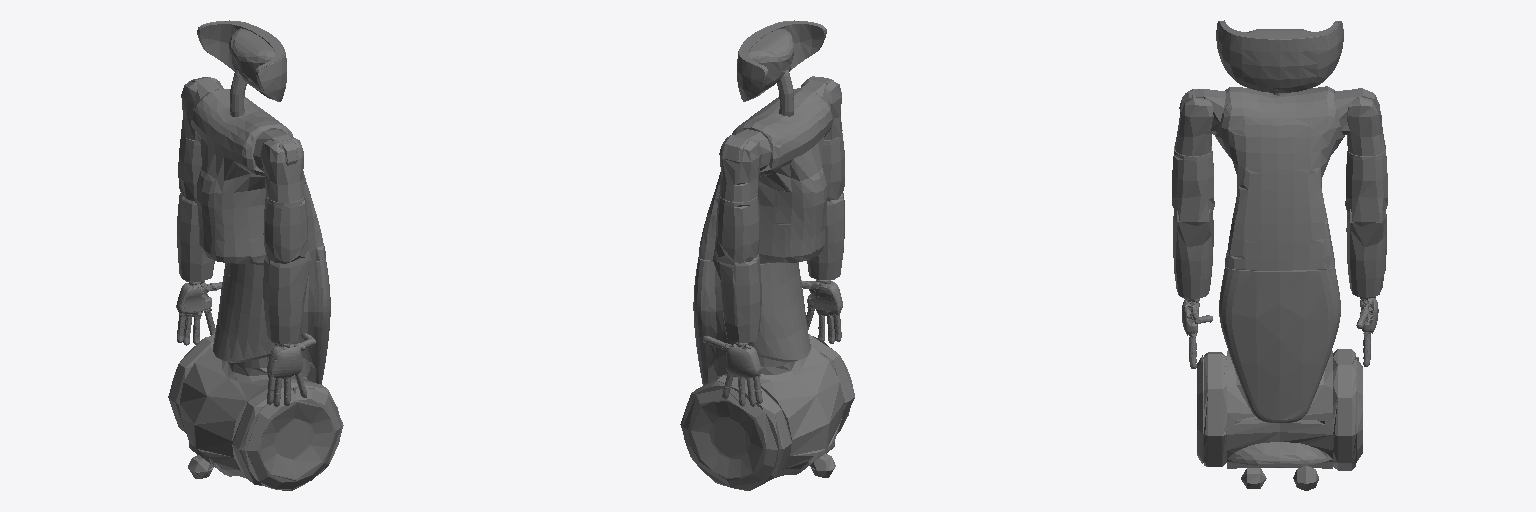
--- Facts derived from the render (not from the file) ---
The picture shows the robot from 3 angles, left to right: view 1: azimuth 30°, elevation 25°; view 2: azimuth 150°, elevation 25°; view 3: azimuth 270°, elevation 25°; orthographic projection.
Model R1Mk3 with 180 links and 179 joints (45 revolute, 1 prismatic, 133 fixed), rooted at base_link, posed every joint at zero.
Links seen in each view (by area): view 1: chest_link, mobile_base_r_tyre_link, mobile_base_body_link, torso_slider_eq_link, head_link, r_forearm, r_upper_arm, r_shoulder_2, l_forearm, l_upper_arm, mobile_base_l_tyre_link, r_hand_palm (+4 smaller); view 2: chest_link, mobile_base_l_tyre_link, torso_slider_eq_link, mobile_base_body_link, head_link, l_forearm, l_upper_arm, l_shoulder_2, r_forearm, r_upper_arm, mobile_base_r_tyre_link, l_hand_palm (+4 smaller); view 3: chest_link, torso_slider_eq_link, mobile_base_body_link, head_link, mobile_base_l_tyre_link, mobile_base_r_tyre_link, r_forearm, l_forearm, r_upper_arm, l_upper_arm, r_shoulder_2, l_shoulder_2 (+2 smaller).
Link boxes in pixels (bbox=[...]): chest_link: bbox=[191, 89, 325, 265]; mobile_base_r_tyre_link: bbox=[232, 379, 343, 490]; mobile_base_body_link: bbox=[179, 347, 313, 478]; torso_slider_eq_link: bbox=[213, 258, 330, 384]; head_link: bbox=[197, 20, 286, 101]; r_forearm: bbox=[263, 251, 311, 344]; r_upper_arm: bbox=[263, 195, 309, 263]; r_shoulder_2: bbox=[260, 135, 304, 202]; l_forearm: bbox=[177, 193, 214, 281]; l_upper_arm: bbox=[178, 134, 201, 202]; mobile_base_l_tyre_link: bbox=[168, 334, 214, 432]; r_hand_palm: bbox=[267, 346, 302, 378]; chest_link: bbox=[699, 88, 832, 263]; mobile_base_l_tyre_link: bbox=[680, 375, 791, 490]; torso_slider_eq_link: bbox=[693, 257, 810, 385]; mobile_base_body_link: bbox=[705, 346, 843, 477]; head_link: bbox=[737, 20, 826, 101]; l_forearm: bbox=[713, 251, 761, 342]; l_upper_arm: bbox=[714, 193, 759, 263]; l_shoulder_2: bbox=[719, 135, 762, 201]; r_forearm: bbox=[807, 193, 844, 280]; r_upper_arm: bbox=[822, 133, 844, 201]; mobile_base_r_tyre_link: bbox=[809, 334, 854, 433]; l_hand_palm: bbox=[726, 345, 760, 377]; chest_link: bbox=[1215, 86, 1344, 270]; torso_slider_eq_link: bbox=[1219, 266, 1340, 423]; mobile_base_body_link: bbox=[1227, 351, 1332, 490]; head_link: bbox=[1216, 20, 1343, 92]; mobile_base_l_tyre_link: bbox=[1333, 349, 1362, 470]; mobile_base_r_tyre_link: bbox=[1197, 352, 1226, 466]; r_forearm: bbox=[1173, 209, 1213, 299]; l_forearm: bbox=[1346, 209, 1386, 298]; r_upper_arm: bbox=[1172, 146, 1214, 225]; l_upper_arm: bbox=[1345, 149, 1387, 226]; r_shoulder_2: bbox=[1175, 89, 1213, 156]; l_shoulder_2: bbox=[1347, 88, 1385, 155].
Bounding box of the posed robot: 0.394 × 0.5646 × 1.25 m (x, y, z).
49 mesh visuals loaded from 49 distinct referenced files (49 binary STL).

URDF robot description (R1Mk3):
<?xml version="1.0"?>
<robot name="R1Mk3">
  <link name="base_link"/>
  <joint name="base_link_fixed_joint" type="fixed">
    <origin xyz="0 0 0" rpy="0 -0 0"/>
    <parent link="base_link"/>
    <child link="mobile_base_body_link"/>
  </joint>
  <link name="mobile_base_body_link">
    <inertial>
      <mass value="22.387788717205595"/>
      <origin xyz="0.0035319256128036637 0 0.0628037627489639" rpy="0 -0 0"/>
      <inertia ixx="0.5475446262144261" ixy="0" ixz="-0.06348414627429329" iyy="0.5797524718439273" iyz="0" izz="0.270222711489103"/>
    </inertial>
    <visual>
      <origin xyz="0 0 0" rpy="0 -0 0"/>
      <geometry>
        <mesh filename="package://R1Mk3/meshes/simmechanics/sim_emorph_mob_base_body.stl" scale="0.001 0.001 0.001"/>
      </geometry>
      <material name="">
        <color rgba="0.5 0.5 0.5 1"/>
      </material>
    </visual>
    <collision>
      <origin xyz="0 0 0" rpy="0 -0 0"/>
      <geometry>
        <mesh filename="package://R1Mk3/meshes/simmechanics/sim_emorph_mob_base_body.stl" scale="0.001 0.001 0.001"/>
      </geometry>
      <material name="">
        <color rgba="0.5 0.5 0.5 1"/>
      </material>
    </collision>
  </link>
  <joint name="mobile_base_l_wheel_joint" type="revolute">
    <origin xyz="0 0.1389999999999999 -1.1102230246251565e-16" rpy="0 7.662700497994973e-16 0"/>
    <axis xyz="0 -1 -0"/>
    <parent link="mobile_base_body_link"/>
    <child link="mobile_base_l_tyre_link"/>
    <limit lower="-6.283185307179586" upper="6.283185307179586" effort="1e+9" velocity="1e+9"/>
    <dynamics damping="0.5" friction="0"/>
  </joint>
  <link name="mobile_base_l_tyre_link">
    <inertial>
      <mass value="3.2199858055744675"/>
      <origin xyz="0 0.03442489884626515 9.10811343815543e-6" rpy="0 -0 0"/>
      <inertia ixx="0.021487596568520503" ixy="0" ixz="0" iyy="0.04037529515619701" iyz="-8.891903600015211e-7" izz="0.021483307656942376"/>
    </inertial>
    <visual>
      <origin xyz="0 0 0" rpy="0 -0 0"/>
      <geometry>
        <mesh filename="package://R1Mk3/meshes/simmechanics/sim_emorph_mobile_base_l_tyre.stl" scale="0.001 0.001 0.001"/>
      </geometry>
      <material name="">
        <color rgba="0.5 0.5 0.5 1"/>
      </material>
    </visual>
    <collision>
      <origin xyz="0 0 0" rpy="0 -0 0"/>
      <geometry>
        <mesh filename="package://R1Mk3/meshes/simmechanics/sim_emorph_mobile_base_l_tyre.stl" scale="0.001 0.001 0.001"/>
      </geometry>
      <material name="">
        <color rgba="0.5 0.5 0.5 1"/>
      </material>
    </collision>
  </link>
  <joint name="mobile_base_r_wheel_joint" type="revolute">
    <origin xyz="0 -0.13900000000000004 -2.7755575615628914e-17" rpy="0 -0 0"/>
    <axis xyz="-0 -1 -0"/>
    <parent link="mobile_base_body_link"/>
    <child link="mobile_base_r_tyre_link"/>
    <limit lower="-6.283185307179586" upper="6.283185307179586" effort="1e+9" velocity="1e+9"/>
    <dynamics damping="0.5" friction="0"/>
  </joint>
  <link name="mobile_base_r_tyre_link">
    <inertial>
      <mass value="3.2199844996907157"/>
      <origin xyz="0 -0.03442488632484336 9.102946312872229e-6" rpy="0 -0 0"/>
      <inertia ixx="0.021487589328670016" ixy="0" ixz="0" iyy="0.040375282920497746" iyz="8.888241223903605e-7" izz="0.021483299995861717"/>
    </inertial>
    <visual>
      <origin xyz="0 0 0" rpy="0 -0 0"/>
      <geometry>
        <mesh filename="package://R1Mk3/meshes/simmechanics/sim_emorph_mobile_base_r_tyre.stl" scale="0.001 0.001 0.001"/>
      </geometry>
      <material name="">
        <color rgba="0.5 0.5 0.5 1"/>
      </material>
    </visual>
    <collision>
      <origin xyz="0 0 0" rpy="0 -0 0"/>
      <geometry>
        <mesh filename="package://R1Mk3/meshes/simmechanics/sim_emorph_mobile_base_r_tyre.stl" scale="0.001 0.001 0.001"/>
      </geometry>
      <material name="">
        <color rgba="0.5 0.5 0.5 1"/>
      </material>
    </collision>
  </link>
  <joint name="torso_heave_eq_joint" type="prismatic">
    <origin xyz="0.04399999999999975 0 0.06999999999999978" rpy="0 -0 1.1561757607518842e-15"/>
    <axis xyz="0 0 1"/>
    <parent link="mobile_base_body_link"/>
    <child link="torso_slider_eq_link"/>
    <limit lower="0" upper="0.17" effort="1e+9" velocity="1e+9"/>
    <dynamics damping="2" friction="0"/>
  </joint>
  <link name="torso_slider_eq_link">
    <inertial>
      <mass value="5.59982626694707"/>
      <origin xyz="0.015174971832668069 2.80975224798882e-6 0.24553275341839229" rpy="0 -0 0"/>
      <inertia ixx="0.07308089006270702" ixy="-1.3698388363514908e-6" ixz="0.0046719400245096195" iyy="0.07238788684975928" iyz="-5.401529104640673e-18" izz="0.055708127154132946"/>
    </inertial>
    <visual>
      <origin xyz="0 0 0" rpy="0 -0 0"/>
      <geometry>
        <mesh filename="package://R1Mk3/meshes/simmechanics/sim_emorph_torso_slider_eq.stl" scale="0.001 0.001 0.001"/>
      </geometry>
      <material name="">
        <color rgba="0.5 0.5 0.5 1"/>
      </material>
    </visual>
    <collision>
      <origin xyz="0 0 0" rpy="0 -0 0"/>
      <geometry>
        <mesh filename="package://R1Mk3/meshes/simmechanics/sim_emorph_torso_slider_eq.stl" scale="0.001 0.001 0.001"/>
      </geometry>
      <material name="">
        <color rgba="0.5 0.5 0.5 1"/>
      </material>
    </collision>
  </link>
  <joint name="torso_roll_eq_joint" type="revolute">
    <origin xyz="2.0816681711721685e-17 -5.242619982186716e-24 0.40000000000000024" rpy="0 2.220446049250313e-16 -1.8377532023260753e-23"/>
    <axis xyz="1 1.9721522630525295e-31 2.220446049250313e-16"/>
    <parent link="torso_slider_eq_link"/>
    <child link="torso_pin_eq_link"/>
    <limit lower="-0.5235987755982988" upper="0.5235987755982988" effort="1e+9" velocity="1e+9"/>
    <dynamics damping="2" friction="0"/>
  </joint>
  <link name="torso_pin_eq_link">
    <inertial>
      <mass value="0.31999477371302226"/>
      <origin xyz="0 0 6.1232339957367664e-24" rpy="0 -0 0"/>
      <inertia ixx="0.01" ixy="0" ixz="0" iyy="0.01" iyz="0" izz="0.01"/>
    </inertial>
    <visual>
      <origin xyz="0 0 0" rpy="0 -0 0"/>
      <geometry>
        <mesh filename="package://R1Mk3/meshes/simmechanics/sim_emorph_torso_pin_eq.stl" scale="0.001 0.001 0.001"/>
      </geometry>
      <material name="">
        <color rgba="0.5 0.5 0.5 1"/>
      </material>
    </visual>
    <collision>
      <origin xyz="0 0 0" rpy="0 -0 0"/>
      <geometry>
        <mesh filename="package://R1Mk3/meshes/simmechanics/sim_emorph_torso_pin_eq.stl" scale="0.001 0.001 0.001"/>
      </geometry>
      <material name="">
        <color rgba="0.5 0.5 0.5 1"/>
      </material>
    </collision>
  </link>
  <joint name="torso_pitch_eq_joint" type="revolute">
    <origin xyz="-1.3183898417423734e-16 -5.769801341748891e-19 -8.881784197001252e-16" rpy="2.677430187438326e-32 1.110223024625156e-16 -1.2767564783189298e-15"/>
    <axis xyz="1.2767564783189298e-15 -1 3.8508387890912664e-31"/>
    <parent link="torso_pin_eq_link"/>
    <child link="torso_platform_link"/>
    <limit lower="-0.5235987755982988" upper="0.5235987755982988" effort="1e+9" velocity="1e+9"/>
    <dynamics damping="2" friction="0"/>
  </joint>
  <link name="torso_platform_link">
    <inertial>
      <mass value="0.031999825298309546"/>
      <origin xyz="-2.0816681711721685e-17 -1.2609946697555567e-16 0" rpy="0 -0 0"/>
      <inertia ixx="3.266648832535854e-5" ixy="0" ixz="0" iyy="3.266648832535849e-5" iyz="0" izz="6.47996462290769e-5"/>
    </inertial>
    <visual>
      <origin xyz="0 0 0" rpy="0 -0 0"/>
      <geometry>
        <mesh filename="package://R1Mk3/meshes/simmechanics/sim_emorph_torso_platform.stl" scale="0.001 0.001 0.001"/>
      </geometry>
      <material name="">
        <color rgba="0.5 0.5 0.5 1"/>
      </material>
    </visual>
    <collision>
      <origin xyz="0 0 0" rpy="0 -0 0"/>
      <geometry>
        <mesh filename="package://R1Mk3/meshes/simmechanics/sim_emorph_torso_platform.stl" scale="0.001 0.001 0.001"/>
      </geometry>
      <material name="">
        <color rgba="0.5 0.5 0.5 1"/>
      </material>
    </collision>
  </link>
  <joint name="torso_yaw_joint" type="revolute">
    <origin xyz="2.220446049250313e-16 -1.6880686544087094e-16 0.06950000000000012" rpy="-1.0898835157993226e-15 1.4574786319396409e-16 2.150984683485474e-15"/>
    <axis xyz="1.4574786319396409e-16 1.0898835157993226e-15 -1"/>
    <parent link="torso_platform_link"/>
    <child link="chest_link"/>
    <limit lower="-1.0471975511965976" upper="1.0471975511965976" effort="1e+9" velocity="1e+9"/>
    <dynamics damping="2" friction="0"/>
  </joint>
  <link name="chest_link">
    <inertial>
      <mass value="11.006630670053784"/>
      <origin xyz="-0.05342508362944062 4.451185528156479e-4 0.16350186281802392" rpy="0 -0 0"/>
      <inertia ixx="0.22592706246813526" ixy="-1.373015943959773e-4" ixz="0.027792693776069563" iyy="0.21551813958910926" iyz="-0.00695979090154285" izz="0.10409836015106214"/>
    </inertial>
    <visual>
      <origin xyz="0 0 0" rpy="0 -0 0"/>
      <geometry>
        <mesh filename="package://R1Mk3/meshes/simmechanics/sim_emorph_chest.stl" scale="0.001 0.001 0.001"/>
      </geometry>
      <material name="">
        <color rgba="0.5 0.5 0.5 1"/>
      </material>
    </visual>
    <collision>
      <origin xyz="0 0 0" rpy="0 -0 0"/>
      <geometry>
        <mesh filename="package://R1Mk3/meshes/simmechanics/sim_emorph_chest.stl" scale="0.001 0.001 0.001"/>
      </geometry>
      <material name="">
        <color rgba="0.5 0.5 0.5 1"/>
      </material>
    </collision>
  </link>
  <joint name="neck_pitch_joint" type="revolute">
    <origin xyz="-0.0939999999999997 -1.5911115898279495e-16 0.3304999999999986" rpy="1.4266365866433113e-14 1.1313955190051007e-15 4.4868448346273745e-15"/>
    <axis xyz="-1.1561757607518887e-15 -1 5.551115123110952e-17"/>
    <parent link="chest_link"/>
    <child link="neck_link"/>
    <limit lower="-0.5235987755982988" upper="0.8726646259971648" effort="1e+9" velocity="1e+9"/>
    <dynamics damping="2" friction="0"/>
  </joint>
  <link name="neck_link">
    <inertial>
      <mass value="1.4"/>
      <origin xyz="-3.216550439930285e-4 -1.7030856145810995e-17 0.07755531114599701" rpy="0 -0 0"/>
      <inertia ixx="0.0042979349262165165" ixy="1.6175679588350532e-19" ixz="-5.92816958988333e-4" iyy="0.004437841678610556" iyz="6.854005985449545e-19" izz="4.199038582793866e-4"/>
    </inertial>
    <visual>
      <origin xyz="0 0 0" rpy="0 -0 0"/>
      <geometry>
        <mesh filename="package://R1Mk3/meshes/simmechanics/sim_cer_emorph_neck.stl" scale="0.001 0.001 0.001"/>
      </geometry>
      <material name="">
        <color rgba="0.5 0.5 0.5 1"/>
      </material>
    </visual>
    <collision>
      <origin xyz="0 0 0" rpy="0 -0 0"/>
      <geometry>
        <mesh filename="package://R1Mk3/meshes/simmechanics/sim_cer_emorph_neck.stl" scale="0.001 0.001 0.001"/>
      </geometry>
      <material name="">
        <color rgba="0.5 0.5 0.5 1"/>
      </material>
    </collision>
  </link>
  <joint name="l_shoulder_pitch" type="revolute">
    <origin xyz="-0.08400053150683917 0.12013484795757048 0.286332955917873" rpy="0.46227268619152106 -0.9974565180194648 -0.3965303028718867"/>
    <axis xyz="-1.149080830487037e-14 1.0000000000000024 1.0005885009434223e-14"/>
    <parent link="chest_link"/>
    <child link="l_shoulder_1"/>
    <limit lower="-2.9670597283903604" upper="0.6108652381980153" effort="1e+9" velocity="1e+9"/>
    <dynamics damping="2" friction="0"/>
  </joint>
  <link name="l_shoulder_1">
    <inertial>
      <mass value="0.9205302270338587"/>
      <origin xyz="-0.001946411732135389 0.06685258321997073 -0.001525090959314912" rpy="0 -0 0"/>
      <inertia ixx="0.01" ixy="0" ixz="0" iyy="0.01" iyz="0" izz="0.01"/>
    </inertial>
    <visual>
      <origin xyz="0 0 0" rpy="0 -0 0"/>
      <geometry>
        <mesh filename="package://R1Mk3/meshes/simmechanics/sim_emorph_l_shoulder_1.stl" scale="0.001 0.001 0.001"/>
      </geometry>
      <material name="">
        <color rgba="0.5 0.5 0.5 1"/>
      </material>
    </visual>
    <collision>
      <origin xyz="0 0 0" rpy="0 -0 0"/>
      <geometry>
        <mesh filename="package://R1Mk3/meshes/simmechanics/sim_emorph_l_shoulder_1.stl" scale="0.001 0.001 0.001"/>
      </geometry>
      <material name="">
        <color rgba="0.5 0.5 0.5 1"/>
      </material>
    </collision>
  </link>
  <joint name="r_shoulder_pitch" type="revolute">
    <origin xyz="-0.08400053150683896 -0.12013484795757053 0.2863329559178688" rpy="-0.4622726861915203 -0.9974565180194644 0.39653030287188284"/>
    <axis xyz="8.770761894538737e-15 1.0000000000000013 -7.0637939941775585e-15"/>
    <parent link="chest_link"/>
    <child link="r_shoulder_1"/>
    <limit lower="-2.9670597283903604" upper="0.6108652381980153" effort="1e+9" velocity="1e+9"/>
    <dynamics damping="2" friction="0"/>
  </joint>
  <link name="r_shoulder_1">
    <inertial>
      <mass value="0.9205302270338587"/>
      <origin xyz="-0.0019414141305987842 -0.06685331018889412 -0.00153764721332289" rpy="0 -0 0"/>
      <inertia ixx="0.01" ixy="0" ixz="0" iyy="0.01" iyz="0" izz="0.010000000000000002"/>
    </inertial>
    <visual>
      <origin xyz="0 0 0" rpy="0 -0 0"/>
      <geometry>
        <mesh filename="package://R1Mk3/meshes/simmechanics/sim_emorph_r_shoulder_1.stl" scale="0.001 0.001 0.001"/>
      </geometry>
      <material name="">
        <color rgba="0.5 0.5 0.5 1"/>
      </material>
    </visual>
    <collision>
      <origin xyz="0 0 0" rpy="0 -0 0"/>
      <geometry>
        <mesh filename="package://R1Mk3/meshes/simmechanics/sim_emorph_r_shoulder_1.stl" scale="0.001 0.001 0.001"/>
      </geometry>
      <material name="">
        <color rgba="0.5 0.5 0.5 1"/>
      </material>
    </collision>
  </link>
  <joint name="r_shoulder_roll" type="revolute">
    <origin xyz="0.003749999999999143 -0.09330000000000055 -0.006495190528383377" rpy="0.244346095279198 1.0471975511965996 2.4338251683117622e-14"/>
    <axis xyz="-1 -1.429412144204889e-14 1.021405182655144e-14"/>
    <parent link="r_shoulder_1"/>
    <child link="r_shoulder_2"/>
    <limit lower="-0.2617993877991494" upper="2.6179938779914944" effort="1e+9" velocity="1e+9"/>
    <dynamics damping="2" friction="0"/>
  </joint>
  <link name="r_shoulder_2">
    <inertial>
      <mass value="0.6080396220710449"/>
      <origin xyz="-7.465746078458985e-5 -0.006873436249446779 -0.04428821648354275" rpy="0 -0 0"/>
      <inertia ixx="0.01" ixy="0" ixz="0" iyy="0.01" iyz="0" izz="0.01"/>
    </inertial>
    <visual>
      <origin xyz="0 0 0" rpy="0 -0 0"/>
      <geometry>
        <mesh filename="package://R1Mk3/meshes/simmechanics/sim_emorph_r_shoulder_2.stl" scale="0.001 0.001 0.001"/>
      </geometry>
      <material name="">
        <color rgba="0.5 0.5 0.5 1"/>
      </material>
    </visual>
    <collision>
      <origin xyz="0 0 0" rpy="0 -0 0"/>
      <geometry>
        <mesh filename="package://R1Mk3/meshes/simmechanics/sim_emorph_r_shoulder_2.stl" scale="0.001 0.001 0.001"/>
      </geometry>
      <material name="">
        <color rgba="0.5 0.5 0.5 1"/>
      </material>
    </collision>
  </link>
  <joint name="r_arm_ft_sensor" type="fixed">
    <origin xyz="-0.0068499999999994746 -0.015000000000000097 -0.08430000000000015" rpy="-1.1679620594505114e-16 6.826136877968736e-15 4.94835800753015e-15"/>
    <parent link="r_shoulder_2"/>
    <child link="r_shoulder_3"/>
  </joint>
  <link name="r_shoulder_3">
    <inertial>
      <mass value="0.4623249532467936"/>
      <origin xyz="1.1402388285693815e-4 0.0021062597854318577 -0.05634188166833354" rpy="0 -0 0"/>
      <inertia ixx="0.01" ixy="0" ixz="0" iyy="0.01" iyz="0" izz="0.01"/>
    </inertial>
    <visual>
      <origin xyz="0 0 0" rpy="0 -0 0"/>
      <geometry>
        <mesh filename="package://R1Mk3/meshes/simmechanics/sim_emorph_r_shoulder_3.stl" scale="0.001 0.001 0.001"/>
      </geometry>
      <material name="">
        <color rgba="0.5 0.5 0.5 1"/>
      </material>
    </visual>
    <collision>
      <origin xyz="0 0 0" rpy="0 -0 0"/>
      <geometry>
        <mesh filename="package://R1Mk3/meshes/simmechanics/sim_emorph_r_shoulder_3.stl" scale="0.001 0.001 0.001"/>
      </geometry>
      <material name="">
        <color rgba="0.5 0.5 0.5 1"/>
      </material>
    </collision>
  </link>
  <joint name="r_shoulder_yaw" type="revolute">
    <origin xyz="1.3787582187063663e-14 0 -0.09249999999999958" rpy="1.0867658778094487e-13 -3.511889672298818e-13 -8.388657031109435e-14"/>
    <axis xyz="-1.0756098702675875e-14 -7.324493453917992e-15 1.0000000000000002"/>
    <parent link="r_shoulder_3"/>
    <child link="r_upper_arm"/>
    <limit lower="-0.8726646259971648" upper="1.3962634015954636" effort="1e+9" velocity="1e+9"/>
    <dynamics damping="2" friction="0"/>
  </joint>
  <link name="r_upper_arm">
    <inertial>
      <mass value="5.151351881512406"/>
      <origin xyz="-0.0016337943691091053 -2.849044717098126e-4 -0.0291327391827797" rpy="0 -0 0"/>
      <inertia ixx="0.016840874694995834" ixy="-4.251606397628043e-6" ixz="-2.0760347528950605e-4" iyy="0.016820111448241134" iyz="5.131532859128798e-4" izz="0.007390922215738868"/>
    </inertial>
    <visual>
      <origin xyz="0 0 0" rpy="0 -0 0"/>
      <geometry>
        <mesh filename="package://R1Mk3/meshes/simmechanics/sim_emorph_r_upperarm.stl" scale="0.001 0.001 0.001"/>
      </geometry>
      <material name="">
        <color rgba="0.5 0.5 0.5 1"/>
      </material>
    </visual>
    <collision>
      <origin xyz="0 0 0" rpy="0 -0 0"/>
      <geometry>
        <mesh filename="package://R1Mk3/meshes/simmechanics/sim_emorph_r_upperarm.stl" scale="0.001 0.001 0.001"/>
      </geometry>
      <material name="">
        <color rgba="0.5 0.5 0.5 1"/>
      </material>
    </collision>
  </link>
  <joint name="r_elbow" type="revolute">
    <origin xyz="0.010000000000000168 0.0014999999999925628 -0.12369999999999992" rpy="-8.776602962605454e-15 8.621163678779187e-14 -4.61332598370497e-15"/>
    <axis xyz="-6.881155398478144e-15 -1.0000000000000007 -1.766090636148874e-13"/>
    <parent link="r_upper_arm"/>
    <child link="r_forearm"/>
    <limit lower="-0.05235987755982989" upper="1.3089969389957472" effort="1e+9" velocity="1e+9"/>
    <dynamics damping="2" friction="0"/>
  </joint>
  <link name="r_forearm">
    <inertial>
      <mass value="1.5127280243277526"/>
      <origin xyz="-0.017870144976380828 -4.3369235091492153e-4 -0.1201340745623698" rpy="0 -0 0"/>
      <inertia ixx="0.010000000000000002" ixy="0" ixz="0" iyy="0.009999999999999998" iyz="0" izz="0.01"/>
    </inertial>
    <visual>
      <origin xyz="0 0 0" rpy="0 -0 0"/>
      <geometry>
        <mesh filename="package://R1Mk3/meshes/simmechanics/sim_emorph_r_forearm.stl" scale="0.001 0.001 0.001"/>
      </geometry>
      <material name="">
        <color rgba="0.5 0.5 0.5 1"/>
      </material>
    </visual>
    <collision>
      <origin xyz="0 0 0" rpy="0 -0 0"/>
      <geometry>
        <mesh filename="package://R1Mk3/meshes/simmechanics/sim_emorph_r_forearm.stl" scale="0.001 0.001 0.001"/>
      </geometry>
      <material name="">
        <color rgba="0.5 0.5 0.5 1"/>
      </material>
    </collision>
  </link>
  <joint name="r_wrist_yaw" type="revolute">
    <origin xyz="-0.014999999999887593 -0.002000000000031976 -0.24435000000000512" rpy="-7.878073216300372e-15 -4.1640546262836087e-13 5.3958980296073275e-15"/>
    <axis xyz="-8.698055296851647e-14 1.8287579293696935e-13 1.0000000000000016"/>
    <parent link="r_forearm"/>
    <child link="r_wrist_1"/>
    <limit lower="-1.6057029118347832" upper="1.6057029118347832" effort="1e+9" velocity="1e+9"/>
    <dynamics damping="2" friction="0"/>
  </joint>
  <link name="r_wrist_1">
    <inertial>
      <mass value="0.12269276206782376"/>
      <origin xyz="-1.4544607175177166e-4 1.559247070407055e-4 0.022377800821402394" rpy="0 -0 0"/>
      <inertia ixx="0.01" ixy="0" ixz="0" iyy="0.01" iyz="0" izz="0.01"/>
    </inertial>
    <visual>
      <origin xyz="0 0 0" rpy="0 -0 0"/>
      <geometry>
        <mesh filename="package://R1Mk3/meshes/simmechanics/sim_emorph_r_wrist_1.stl" scale="0.001 0.001 0.001"/>
      </geometry>
      <material name="">
        <color rgba="0.5 0.5 0.5 1"/>
      </material>
    </visual>
    <collision>
      <origin xyz="0 0 0" rpy="0 -0 0"/>
      <geometry>
        <mesh filename="package://R1Mk3/meshes/simmechanics/sim_emorph_r_wrist_1.stl" scale="0.001 0.001 0.001"/>
      </geometry>
      <material name="">
        <color rgba="0.5 0.5 0.5 1"/>
      </material>
    </collision>
  </link>
  <joint name="r_wrist_roll" type="revolute">
    <origin xyz="7.632783294297951e-17 2.498001805406602e-16 3.3306690738754696e-16" rpy="6.3169412432885e-16 1.7406865879254774e-16 -2.979556976579619e-16"/>
    <axis xyz="0.9999999999999993 -2.685670425200266e-16 -1.1855750756128986e-16"/>
    <parent link="r_wrist_1"/>
    <child link="r_wrist_2"/>
    <limit lower="-1.0821041362364843" upper="0.9075712110370514" effort="1e+9" velocity="1e+9"/>
    <dynamics damping="2" friction="0"/>
  </joint>
  <link name="r_wrist_2">
    <inertial>
      <mass value="0.021188357245777188"/>
      <origin xyz="5.05499045400093e-11 7.897372606293362e-4 -0.004696960055006527" rpy="0 -0 0"/>
      <inertia ixx="0.01" ixy="0" ixz="0" iyy="0.01" iyz="0" izz="0.01"/>
    </inertial>
    <visual>
      <origin xyz="0 0 0" rpy="0 -0 0"/>
      <geometry>
        <mesh filename="package://R1Mk3/meshes/simmechanics/sim_emorph_r_wrist_2.stl" scale="0.001 0.001 0.001"/>
      </geometry>
      <material name="">
        <color rgba="0.5 0.5 0.5 1"/>
      </material>
    </visual>
    <collision>
      <origin xyz="0 0 0" rpy="0 -0 0"/>
      <geometry>
        <mesh filename="package://R1Mk3/meshes/simmechanics/sim_emorph_r_wrist_2.stl" scale="0.001 0.001 0.001"/>
      </geometry>
      <material name="">
        <color rgba="0.5 0.5 0.5 1"/>
      </material>
    </collision>
  </link>
  <joint name="r_wrist_pitch" type="revolute">
    <origin xyz="5.551115123125783e-17 -5.551115123125783e-17 -2.220446049250313e-16" rpy="3.2643052087827604e-16 -6.19079440489223e-17 -2.4254449631448003e-16"/>
    <axis xyz="2.668306249781552e-16 -0.9999999999999994 -6.594507967859708e-16"/>
    <parent link="r_wrist_2"/>
    <child link="r_hand_palm"/>
    <limit lower="-0.5585053606381855" upper="0.5585053606381855" effort="1e+9" velocity="1e+9"/>
    <dynamics damping="2" friction="0"/>
  </joint>
  <link name="r_hand_palm">
    <inertial>
      <mass value="0.2020068404688116"/>
      <origin xyz="-0.003982157972782507 -0.0021135289059891482 -0.05842371394186491" rpy="0 -0 0"/>
      <inertia ixx="0.01" ixy="0" ixz="0" iyy="0.01" iyz="0" izz="0.01"/>
    </inertial>
    <visual>
      <origin xyz="0 0 0" rpy="0 -0 0"/>
      <geometry>
        <mesh filename="package://R1Mk3/meshes/simmechanics/sim_emorph_r_hand_palm.stl" scale="0.001 0.001 0.001"/>
      </geometry>
      <material name="">
        <color rgba="0.5 0.5 0.5 1"/>
      </material>
    </visual>
    <collision>
      <origin xyz="0 0 0" rpy="0 -0 0"/>
      <geometry>
        <mesh filename="package://R1Mk3/meshes/simmechanics/sim_emorph_r_hand_palm.stl" scale="0.001 0.001 0.001"/>
      </geometry>
      <material name="">
        <color rgba="0.5 0.5 0.5 1"/>
      </material>
    </collision>
  </link>
  <joint name="r_index_add" type="revolute">
    <origin xyz="0.02249999999999991 0.0015000000000005564 -0.06859999999999972" rpy="-1.8219785097875794e-15 0.2967059728390403 3.141592653589792"/>
    <axis xyz="-2.8199000035257554e-16 -0.9999999999999994 1.3731809894432951e-15"/>
    <parent link="r_hand_palm"/>
    <child link="r_hand_index_1"/>
    <limit lower="0" upper="0.2617993877991494" effort="1e+9" velocity="1e+9"/>
    <dynamics damping="2" friction="0"/>
  </joint>
  <link name="r_hand_index_1">
    <inertial>
      <mass value="0.019232477290189804"/>
      <origin xyz="-0.008420124408709713 0.003850331678233287 -0.01714942611279774" rpy="0 -0 0"/>
      <inertia ixx="0.01" ixy="0" ixz="0" iyy="0.01" iyz="0" izz="0.01"/>
    </inertial>
    <visual>
      <origin xyz="0 0 0" rpy="0 -0 0"/>
      <geometry>
        <mesh filename="package://R1Mk3/meshes/simmechanics/sim_emorph_r_hand_index_1.stl" scale="0.001 0.001 0.001"/>
      </geometry>
      <material name="">
        <color rgba="0.5 0.5 0.5 1"/>
      </material>
    </visual>
    <collision>
      <origin xyz="0 0 0" rpy="0 -0 0"/>
      <geometry>
        <mesh filename="package://R1Mk3/meshes/simmechanics/sim_emorph_r_hand_index_1.stl" scale="0.001 0.001 0.001"/>
      </geometry>
      <material name="">
        <color rgba="0.5 0.5 0.5 1"/>
      </material>
    </collision>
  </link>
  <joint name="r_middle_prox" type="revolute">
    <origin xyz="0.009600000000000018 0.0015000000000005564 -0.1029999999999997" rpy="-1.5201721959961367e-15 1.796577209917105e-15 3.1415926535897922"/>
    <axis xyz="-0.9999999999999996 -4.4302906341327945e-15 6.654290833629744e-16"/>
    <parent link="r_hand_palm"/>
    <child link="r_hand_middle_1"/>
    <limit lower="0" upper="1.5707963267948966" effort="1e+9" velocity="1e+9"/>
    <dynamics damping="2" friction="0"/>
  </joint>
  <link name="r_hand_middle_1">
    <inertial>
      <mass value="0.007486365997467528"/>
      <origin xyz="5.610258533731913e-5 0.0011131046827904112 -0.01742880983276912" rpy="0 -0 0"/>
      <inertia ixx="0.01" ixy="0" ixz="0" iyy="0.01" iyz="0" izz="0.01"/>
    </inertial>
    <visual>
      <origin xyz="0 0 0" rpy="0 -0 0"/>
      <geometry>
        <mesh filename="package://R1Mk3/meshes/simmechanics/sim_emorph_r_hand_middle_1.stl" scale="0.001 0.001 0.001"/>
      </geometry>
      <material name="">
        <color rgba="0.5 0.5 0.5 1"/>
      </material>
    </visual>
    <collision>
      <origin xyz="0 0 0" rpy="0 -0 0"/>
      <geometry>
        <mesh filename="package://R1Mk3/meshes/simmechanics/sim_emorph_r_hand_middle_1.stl" scale="0.001 0.001 0.001"/>
      </geometry>
      <material name="">
        <color rgba="0.5 0.5 0.5 1"/>
      </material>
    </collision>
  </link>
  <joint name="r_pinkie_prox" type="revolute">
    <origin xyz="-0.03598268094316612 0.0023777595791096284 -0.09206828131946365" rpy="4.1095343994377795e-4 -0.0872664625997284 3.115412714809877"/>
    <axis xyz="-0.9999999999999997 4.2975605712980425e-15 -3.191891195797325e-16"/>
    <parent link="r_hand_palm"/>
    <child link="r_hand_pinkie_1"/>
    <limit lower="0" upper="1.5707963267948966" effort="1e+9" velocity="1e+9"/>
    <dynamics damping="2" friction="0"/>
  </joint>
  <link name="r_hand_pinkie_1">
    <inertial>
      <mass value="0.006357585733638135"/>
      <origin xyz="3.616260147435227e-5 0.0012147050941129778 -0.015053109692718447" rpy="0 -0 0"/>
      <inertia ixx="0.01" ixy="0" ixz="0" iyy="0.01" iyz="0" izz="0.01"/>
    </inertial>
    <visual>
      <origin xyz="0 0 0" rpy="0 -0 0"/>
      <geometry>
        <mesh filename="package://R1Mk3/meshes/simmechanics/sim_emorph_r_hand_pinkie_1.stl" scale="0.001 0.001 0.001"/>
      </geometry>
      <material name="">
        <color rgba="0.5 0.5 0.5 1"/>
      </material>
    </visual>
    <collision>
      <origin xyz="0 0 0" rpy="0 -0 0"/>
      <geometry>
        <mesh filename="package://R1Mk3/meshes/simmechanics/sim_emorph_r_hand_pinkie_1.stl" scale="0.001 0.001 0.001"/>
      </geometry>
      <material name="">
        <color rgba="0.5 0.5 0.5 1"/>
      </material>
    </collision>
  </link>
  <joint name="r_ring_prox" type="revolute">
    <origin xyz="-0.015417755558119937 0.001849813728471178 -0.09788067183884414" rpy="-1.8555868085958955e-15 -0.08726646259972873 3.115412714809877"/>
    <axis xyz="-0.9999999999999997 -3.617118096769719e-15 -4.73232564246473e-15"/>
    <parent link="r_hand_palm"/>
    <child link="r_hand_ring_1"/>
    <limit lower="0" upper="1.5707963267948966" effort="1e+9" velocity="1e+9"/>
    <dynamics damping="2" friction="0"/>
  </joint>
  <link name="r_hand_ring_1">
    <inertial>
      <mass value="0.007486365997467528"/>
      <origin xyz="5.6102585337293107e-5 0.0011131045999587252 -0.017428809839565573" rpy="0 -0 0"/>
      <inertia ixx="0.01" ixy="0" ixz="0" iyy="0.01" iyz="0" izz="0.01"/>
    </inertial>
    <visual>
      <origin xyz="0 0 0" rpy="0 -0 0"/>
      <geometry>
        <mesh filename="package://R1Mk3/meshes/simmechanics/sim_emorph_r_hand_ring_1.stl" scale="0.001 0.001 0.001"/>
      </geometry>
      <material name="">
        <color rgba="0.5 0.5 0.5 1"/>
      </material>
    </visual>
    <collision>
      <origin xyz="0 0 0" rpy="0 -0 0"/>
      <geometry>
        <mesh filename="package://R1Mk3/meshes/simmechanics/sim_emorph_r_hand_ring_1.stl" scale="0.001 0.001 0.001"/>
      </geometry>
      <material name="">
        <color rgba="0.5 0.5 0.5 1"/>
      </material>
    </collision>
  </link>
  <joint name="r_thumb_add" type="revolute">
    <origin xyz="0.023374863256390613 0.003000000000000197 -0.03452383847355428" rpy="1.7024696942186454e-15 -0.2268928027592651 -6.747454081634266e-16"/>
    <axis xyz="9.71445146547012e-16 2.542554010709041e-15 0.9999999999999998"/>
    <parent link="r_hand_palm"/>
    <child link="r_hand_thumb_1"/>
    <limit lower="0" upper="1.7453292519943295" effort="1e+9" velocity="1e+9"/>
    <dynamics damping="2" friction="0"/>
  </joint>
  <link name="r_hand_thumb_1">
    <inertial>
      <mass value="0.02894174189037044"/>
      <origin xyz="0.0183756324403817 -4.55521018183358e-5 0.002126473485347669" rpy="0 -0 0"/>
      <inertia ixx="0.01" ixy="0" ixz="0" iyy="0.01" iyz="0" izz="0.01"/>
    </inertial>
    <visual>
      <origin xyz="0 0 0" rpy="0 -0 0"/>
      <geometry>
        <mesh filename="package://R1Mk3/meshes/simmechanics/sim_emorph_r_hand_thumb_1.stl" scale="0.001 0.001 0.001"/>
      </geometry>
      <material name="">
        <color rgba="0.5 0.5 0.5 1"/>
      </material>
    </visual>
    <collision>
      <origin xyz="0 0 0" rpy="0 -0 0"/>
      <geometry>
        <mesh filename="package://R1Mk3/meshes/simmechanics/sim_emorph_r_hand_thumb_1.stl" scale="0.001 0.001 0.001"/>
      </geometry>
      <material name="">
        <color rgba="0.5 0.5 0.5 1"/>
      </material>
    </collision>
  </link>
  <joint name="r_thumb_prox" type="revolute">
    <origin xyz="0.038074654499560476 0.00346910958032548 -0.0036017448035497446" rpy="-1.7697290685226967 -0.1374915277173128 -2.9653796139720434"/>
    <axis xyz="1.0928757898653885e-15 -1.0824674490095276e-15 -0.9999999999999997"/>
    <parent link="r_hand_thumb_1"/>
    <child link="r_hand_thumb_2"/>
    <limit lower="0" upper="1.5707963267948966" effort="1e+9" velocity="1e+9"/>
    <dynamics damping="2" friction="0"/>
  </joint>
  <link name="r_hand_thumb_2">
    <inertial>
      <mass value="0.00669603218404702"/>
      <origin xyz="-0.014887264468035837 -0.0011329726380328586 6.26600593671145e-5" rpy="0 -0 0"/>
      <inertia ixx="0.01" ixy="0" ixz="0" iyy="0.01" iyz="0" izz="0.01"/>
    </inertial>
    <visual>
      <origin xyz="0 0 0" rpy="0 -0 0"/>
      <geometry>
        <mesh filename="package://R1Mk3/meshes/simmechanics/sim_emorph_r_hand_thumb_2.stl" scale="0.001 0.001 0.001"/>
      </geometry>
      <material name="">
        <color rgba="0.5 0.5 0.5 1"/>
      </material>
    </visual>
    <collision>
      <origin xyz="0 0 0" rpy="0 -0 0"/>
      <geometry>
        <mesh filename="package://R1Mk3/meshes/simmechanics/sim_emorph_r_hand_thumb_2.stl" scale="0.001 0.001 0.001"/>
      </geometry>
      <material name="">
        <color rgba="0.5 0.5 0.5 1"/>
      </material>
    </collision>
  </link>
  <joint name="r_thumb_dist" type="revolute">
    <origin xyz="-0.03499999999999995 0.0014999999999998903 -1.942890293094024e-16" rpy="-3.1398494915180213e-16 -2.7755575615628914e-16 3.141592653588312"/>
    <axis xyz="8.8297424927092e-16 1.174407793238017e-15 -0.9999999999999998"/>
    <parent link="r_hand_thumb_2"/>
    <child link="r_hand_thumb_3"/>
    <limit lower="0" upper="1.7697638615222502" effort="1e+9" velocity="1e+9"/>
    <dynamics damping="2" friction="0"/>
  </joint>
  <link name="r_hand_thumb_3">
    <inertial>
      <mass value="0.00683159462238797"/>
      <origin xyz="0.016086236544425966 0.0026526877650291103 4.703179416121195e-5" rpy="0 -0 0"/>
      <inertia ixx="0.01" ixy="0" ixz="0" iyy="0.01" iyz="0" izz="0.01"/>
    </inertial>
    <visual>
      <origin xyz="0 0 0" rpy="0 -0 0"/>
      <geometry>
        <mesh filename="package://R1Mk3/meshes/simmechanics/sim_emorph_r_hand_thumb_3.stl" scale="0.001 0.001 0.001"/>
      </geometry>
      <material name="">
        <color rgba="0.5 0.5 0.5 1"/>
      </material>
    </visual>
    <collision>
      <origin xyz="0 0 0" rpy="0 -0 0"/>
      <geometry>
        <mesh filename="package://R1Mk3/meshes/simmechanics/sim_emorph_r_hand_thumb_3.stl" scale="0.001 0.001 0.001"/>
      </geometry>
      <material name="">
        <color rgba="0.5 0.5 0.5 1"/>
      </material>
    </collision>
  </link>
  <joint name="r_ring_dist" type="revolute">
    <origin xyz="4.163336342344337e-17 -0.0015000000000001956 -0.039999999999999425" rpy="-1.387778780781446e-17 -4.163336342344337e-17 -7.632783294297954e-17"/>
    <axis xyz="-0.9999999999999997 4.0592529337857286e-16 -5.898059818321164e-17"/>
    <parent link="r_hand_ring_1"/>
    <child link="r_hand_ring_2"/>
    <limit lower="0" upper="1.7994344588061537" effort="1e+9" velocity="1e+9"/>
    <dynamics damping="2" friction="0"/>
  </joint>
  <link name="r_hand_ring_2">
    <inertial>
      <mass value="0.007251413355667432"/>
      <origin xyz="4.43251343077225e-5 0.00275470906266162 -0.018890876418029168" rpy="0 -0 0"/>
      <inertia ixx="0.01" ixy="0" ixz="0" iyy="0.01" iyz="0" izz="0.01"/>
    </inertial>
    <visual>
      <origin xyz="0 0 0" rpy="0 -0 0"/>
      <geometry>
        <mesh filename="package://R1Mk3/meshes/simmechanics/sim_emorph_r_hand_ring_2.stl" scale="0.001 0.001 0.001"/>
      </geometry>
      <material name="">
        <color rgba="0.5 0.5 0.5 1"/>
      </material>
    </visual>
    <collision>
      <origin xyz="0 0 0" rpy="0 -0 0"/>
      <geometry>
        <mesh filename="package://R1Mk3/meshes/simmechanics/sim_emorph_r_hand_ring_2.stl" scale="0.001 0.001 0.001"/>
      </geometry>
      <material name="">
        <color rgba="0.5 0.5 0.5 1"/>
      </material>
    </collision>
  </link>
  <joint name="r_pinkie_dist" type="revolute">
    <origin xyz="2.7755575615628914e-17 -0.001514193309378964 -0.03499938883211856" rpy="-0.0012956915198226522 -1.1102230246251565e-16 -2.498001805406603e-16"/>
    <axis xyz="-0.9999999999999997 1.122199955094049e-15 -2.5905081939964974e-15"/>
    <parent link="r_hand_pinkie_1"/>
    <child link="r_hand_pinkie_2"/>
    <limit lower="0" upper="1.7226399717184033" effort="1e+9" velocity="1e+9"/>
    <dynamics damping="2" friction="0"/>
  </joint>
  <link name="r_hand_pinkie_2">
    <inertial>
      <mass value="0.007240237490764073"/>
      <origin xyz="2.1391072559044655e-5 0.0027712863562942003 -0.018930305880602127" rpy="0 -0 0"/>
      <inertia ixx="0.01" ixy="0" ixz="0" iyy="0.01" iyz="0" izz="0.01"/>
    </inertial>
    <visual>
      <origin xyz="0 0 0" rpy="0 -0 0"/>
      <geometry>
        <mesh filename="package://R1Mk3/meshes/simmechanics/sim_emorph_r_hand_pinkie_2.stl" scale="0.001 0.001 0.001"/>
      </geometry>
      <material name="">
        <color rgba="0.5 0.5 0.5 1"/>
      </material>
    </visual>
    <collision>
      <origin xyz="0 0 0" rpy="0 -0 0"/>
      <geometry>
        <mesh filename="package://R1Mk3/meshes/simmechanics/sim_emorph_r_hand_pinkie_2.stl" scale="0.001 0.001 0.001"/>
      </geometry>
      <material name="">
        <color rgba="0.5 0.5 0.5 1"/>
      </material>
    </collision>
  </link>
  <joint name="r_middle_dist" type="revolute">
    <origin xyz="6.938893903907228e-18 -0.0014999999999997238 -0.04000000000000015" rpy="-7.535550938194039e-8 1.5894403848637495e-16 -2.1003028960117637e-17"/>
    <axis xyz="-0.9999999999999997 -2.0389677846702298e-15 2.95065603973689e-15"/>
    <parent link="r_hand_middle_1"/>
    <child link="r_hand_middle_2"/>
    <limit lower="0" upper="1.7994344588061537" effort="1e+9" velocity="1e+9"/>
    <dynamics damping="2" friction="0"/>
  </joint>
  <link name="r_hand_middle_2">
    <inertial>
      <mass value="0.007251413355667432"/>
      <origin xyz="4.432513430769475e-5 0.0027547091926723166 -0.018890876399070666" rpy="0 -0 0"/>
      <inertia ixx="0.01" ixy="0" ixz="0" iyy="0.01" iyz="0" izz="0.01"/>
    </inertial>
    <visual>
      <origin xyz="0 0 0" rpy="0 -0 0"/>
      <geometry>
        <mesh filename="package://R1Mk3/meshes/simmechanics/sim_emorph_r_hand_middle_2.stl" scale="0.001 0.001 0.001"/>
      </geometry>
      <material name="">
        <color rgba="0.5 0.5 0.5 1"/>
      </material>
    </visual>
    <collision>
      <origin xyz="0 0 0" rpy="0 -0 0"/>
      <geometry>
        <mesh filename="package://R1Mk3/meshes/simmechanics/sim_emorph_r_hand_middle_2.stl" scale="0.001 0.001 0.001"/>
      </geometry>
      <material name="">
        <color rgba="0.5 0.5 0.5 1"/>
      </material>
    </collision>
  </link>
  <joint name="r_index_prox" type="revolute">
    <origin xyz="-0.009192533317427781 2.7755575615628914e-17 -0.030713451316238427" rpy="-6.519807412594219e-16 2.220446049250313e-16 5.507069409868563e-17"/>
    <axis xyz="-0.9999999999999993 3.640657721582126e-15 -2.137179322403427e-15"/>
    <parent link="r_hand_index_1"/>
    <child link="r_hand_index_2"/>
    <limit lower="0" upper="1.5707963267948966" effort="1e+9" velocity="1e+9"/>
    <dynamics damping="2" friction="0"/>
  </joint>
  <link name="r_hand_index_2">
    <inertial>
      <mass value="0.007486365997467528"/>
      <origin xyz="5.610258533736423e-5 0.0011131050125119946 -0.01742880980571504" rpy="0 -0 0"/>
      <inertia ixx="0.01" ixy="0" ixz="0" iyy="0.01" iyz="0" izz="0.01"/>
    </inertial>
    <visual>
      <origin xyz="0 0 0" rpy="0 -0 0"/>
      <geometry>
        <mesh filename="package://R1Mk3/meshes/simmechanics/sim_emorph_r_hand_index_2.stl" scale="0.001 0.001 0.001"/>
      </geometry>
      <material name="">
        <color rgba="0.5 0.5 0.5 1"/>
      </material>
    </visual>
    <collision>
      <origin xyz="0 0 0" rpy="0 -0 0"/>
      <geometry>
        <mesh filename="package://R1Mk3/meshes/simmechanics/sim_emorph_r_hand_index_2.stl" scale="0.001 0.001 0.001"/>
      </geometry>
      <material name="">
        <color rgba="0.5 0.5 0.5 1"/>
      </material>
    </collision>
  </link>
  <joint name="r_index_dist" type="revolute">
    <origin xyz="9.71445146547012e-17 -0.0014999999999999458 -0.04000000000000048" rpy="1.0015571678219023e-16 1.1102230246251565e-16 -3.169258475446692e-16"/>
    <axis xyz="-0.9999999999999993 -4.883094118944207e-16 -5.273559366969493e-16"/>
    <parent link="r_hand_index_2"/>
    <child link="r_hand_index_3"/>
    <limit lower="0" upper="1.7994344588061537" effort="1e+9" velocity="1e+9"/>
    <dynamics damping="2" friction="0"/>
  </joint>
  <link name="r_hand_index_3">
    <inertial>
      <mass value="0.007251413355667432"/>
      <origin xyz="4.432513430773638e-5 0.0027547026217409343 -0.01889087735725714" rpy="0 -0 0"/>
      <inertia ixx="0.01" ixy="0" ixz="0" iyy="0.01" iyz="0" izz="0.01"/>
    </inertial>
    <visual>
      <origin xyz="0 0 0" rpy="0 -0 0"/>
      <geometry>
        <mesh filename="package://R1Mk3/meshes/simmechanics/sim_emorph_r_hand_index_3.stl" scale="0.001 0.001 0.001"/>
      </geometry>
      <material name="">
        <color rgba="0.5 0.5 0.5 1"/>
      </material>
    </visual>
    <collision>
      <origin xyz="0 0 0" rpy="0 -0 0"/>
      <geometry>
        <mesh filename="package://R1Mk3/meshes/simmechanics/sim_emorph_r_hand_index_3.stl" scale="0.001 0.001 0.001"/>
      </geometry>
      <material name="">
        <color rgba="0.5 0.5 0.5 1"/>
      </material>
    </collision>
  </link>
  <joint name="l_shoulder_roll" type="revolute">
    <origin xyz="0.0024999999999943956 0.09330000000000116 -0.0043301270189194385" rpy="-0.24434609527918347 1.047197551196627 1.5797638804743949e-15"/>
    <axis xyz="1.0000000000000002 -1.9872992140790302e-14 -1.2378986724570495e-14"/>
    <parent link="l_shoulder_1"/>
    <child link="l_shoulder_2"/>
    <limit lower="-0.2617993877991494" upper="2.6179938779914944" effort="1e+9" velocity="1e+9"/>
    <dynamics damping="2" friction="0"/>
  </joint>
  <link name="l_shoulder_2">
    <inertial>
      <mass value="0.6125478069741506"/>
      <origin xyz="0.002666532391712599 0.005154325370767043 -0.05018707330365968" rpy="0 -0 0"/>
      <inertia ixx="0.01" ixy="0" ixz="0" iyy="0.01" iyz="0" izz="0.01"/>
    </inertial>
    <visual>
      <origin xyz="0 0 0" rpy="0 -0 0"/>
      <geometry>
        <mesh filename="package://R1Mk3/meshes/simmechanics/sim_emorph_l_shoulder_2.stl" scale="0.001 0.001 0.001"/>
      </geometry>
      <material name="">
        <color rgba="0.5 0.5 0.5 1"/>
      </material>
    </visual>
    <collision>
      <origin xyz="0 0 0" rpy="0 -0 0"/>
      <geometry>
        <mesh filename="package://R1Mk3/meshes/simmechanics/sim_emorph_l_shoulder_2.stl" scale="0.001 0.001 0.001"/>
      </geometry>
      <material name="">
        <color rgba="0.5 0.5 0.5 1"/>
      </material>
    </collision>
  </link>
  <joint name="l_arm_ft_sensor" type="fixed">
    <origin xyz="-0.004349999999998785 0.015000000000000041 -0.08430000000000004" rpy="-1.1378201852273147e-16 1.3234422238661558e-14 -1.1890463860373368e-14"/>
    <parent link="l_shoulder_2"/>
    <child link="l_shoulder_3"/>
  </joint>
  <link name="l_shoulder_3">
    <inertial>
      <mass value="0.4623249532467936"/>
      <origin xyz="1.031584390220816e-4 -0.0021062597852904985 -0.056341881668335314" rpy="0 -0 0"/>
      <inertia ixx="0.01" ixy="0" ixz="0" iyy="0.01" iyz="0" izz="0.01"/>
    </inertial>
    <visual>
      <origin xyz="0 0 0" rpy="0 -0 0"/>
      <geometry>
        <mesh filename="package://R1Mk3/meshes/simmechanics/sim_emorph_l_shoulder_3.stl" scale="0.001 0.001 0.001"/>
      </geometry>
      <material name="">
        <color rgba="0.5 0.5 0.5 1"/>
      </material>
    </visual>
    <collision>
      <origin xyz="0 0 0" rpy="0 -0 0"/>
      <geometry>
        <mesh filename="package://R1Mk3/meshes/simmechanics/sim_emorph_l_shoulder_3.stl" scale="0.001 0.001 0.001"/>
      </geometry>
      <material name="">
        <color rgba="0.5 0.5 0.5 1"/>
      </material>
    </collision>
  </link>
  <joint name="l_shoulder_yaw" type="revolute">
    <origin xyz="4.579669976578771e-16 -2.275957200481571e-15 -0.09250000000000014" rpy="9.914396488463463e-14 8.846976970455778e-13 1.2938419798979962e-14"/>
    <axis xyz="8.979207351614282e-13 -9.88121240574378e-14 -0.9999999999999922"/>
    <parent link="l_shoulder_3"/>
    <child link="l_upper_arm"/>
    <limit lower="-0.8726646259971648" upper="1.3962634015954636" effort="1e+9" velocity="1e+9"/>
    <dynamics damping="2" friction="0"/>
  </joint>
  <link name="l_upper_arm">
    <inertial>
      <mass value="5.152081516462353"/>
      <origin xyz="-0.0016360906950566995 2.8760919938605745e-4 -0.029129484429294413" rpy="0 -0 0"/>
      <inertia ixx="0.016843398710057952" ixy="-1.492592009842048e-5" ixz="-2.0597160065554028e-4" iyy="0.016822632148716037" iyz="-5.136236906348136e-4" izz="0.007391461210731708"/>
    </inertial>
    <visual>
      <origin xyz="0 0 0" rpy="0 -0 0"/>
      <geometry>
        <mesh filename="package://R1Mk3/meshes/simmechanics/sim_emorph_l_upperarm.stl" scale="0.001 0.001 0.001"/>
      </geometry>
      <material name="">
        <color rgba="0.5 0.5 0.5 1"/>
      </material>
    </visual>
    <collision>
      <origin xyz="0 0 0" rpy="0 -0 0"/>
      <geometry>
        <mesh filename="package://R1Mk3/meshes/simmechanics/sim_emorph_l_upperarm.stl" scale="0.001 0.001 0.001"/>
      </geometry>
      <material name="">
        <color rgba="0.5 0.5 0.5 1"/>
      </material>
    </collision>
  </link>
  <joint name="l_elbow" type="revolute">
    <origin xyz="0.010000000000109279 -0.0015000000000126024 -0.12370000000000425" rpy="9.882562686073715e-14 0.0410236199281351 -1.5393375483343204e-14"/>
    <axis xyz="1.7510203204685582e-14 -1.0000000000000009 -1.9873021927624366e-13"/>
    <parent link="l_upper_arm"/>
    <child link="l_forearm"/>
    <limit lower="-0.05235987755982989" upper="1.3089969389957472" effort="1e+9" velocity="1e+9"/>
    <dynamics damping="2" friction="0"/>
  </joint>
  <link name="l_forearm">
    <inertial>
      <mass value="1.5127280243277526"/>
      <origin xyz="-0.017870832470124914 3.528028289372931e-4 -0.12013406586454389" rpy="0 -0 0"/>
      <inertia ixx="0.009999999999999998" ixy="0" ixz="0" iyy="0.009999999999999998" iyz="0" izz="0.01"/>
    </inertial>
    <visual>
      <origin xyz="0 0 0" rpy="0 -0 0"/>
      <geometry>
        <mesh filename="package://R1Mk3/meshes/simmechanics/sim_emorph_l_forearm.stl" scale="0.001 0.001 0.001"/>
      </geometry>
      <material name="">
        <color rgba="0.5 0.5 0.5 1"/>
      </material>
    </visual>
    <collision>
      <origin xyz="0 0 0" rpy="0 -0 0"/>
      <geometry>
        <mesh filename="package://R1Mk3/meshes/simmechanics/sim_emorph_l_forearm.stl" scale="0.001 0.001 0.001"/>
      </geometry>
      <material name="">
        <color rgba="0.5 0.5 0.5 1"/>
      </material>
    </collision>
  </link>
  <joint name="l_wrist_yaw" type="revolute">
    <origin xyz="-0.014999999999964521 0.002000000000021568 -0.24434999999998203" rpy="1.4450819996192198e-13 7.473327512386163e-13 -8.701491201299094e-14"/>
    <axis xyz="8.856976024991497e-13 -9.886813268169502e-14 -0.9999999999999929"/>
    <parent link="l_forearm"/>
    <child link="l_wrist_1"/>
    <limit lower="-1.6057029118347832" upper="1.6057029118347832" effort="1e+9" velocity="1e+9"/>
    <dynamics damping="2" friction="0"/>
  </joint>
  <link name="l_wrist_1">
    <inertial>
      <mass value="0.1226928"/>
      <origin xyz="1.4545073498396788e-4 -1.5595311920038601e-4 0.022377795694245" rpy="0 -0 0"/>
      <inertia ixx="0.01" ixy="0" ixz="0" iyy="0.01" iyz="0" izz="0.01"/>
    </inertial>
    <visual>
      <origin xyz="0 0 0" rpy="0 -0 0"/>
      <geometry>
        <mesh filename="package://R1Mk3/meshes/simmechanics/sim_emorph_l_wrist_1.stl" scale="0.001 0.001 0.001"/>
      </geometry>
      <material name="">
        <color rgba="0.5 0.5 0.5 1"/>
      </material>
    </visual>
    <collision>
      <origin xyz="0 0 0" rpy="0 -0 0"/>
      <geometry>
        <mesh filename="package://R1Mk3/meshes/simmechanics/sim_emorph_l_wrist_1.stl" scale="0.001 0.001 0.001"/>
      </geometry>
      <material name="">
        <color rgba="0.5 0.5 0.5 1"/>
      </material>
    </collision>
  </link>
  <joint name="l_wrist_roll" type="revolute">
    <origin xyz="8.326672684688674e-17 -1.1102230246251565e-16 -5.551115123125783e-17" rpy="3.895775574965646e-16 -1.8735013540549517e-16 -3.9200515392339544e-16"/>
    <axis xyz="-1.0000000000000007 4.979503409000692e-16 9.020562075079414e-17"/>
    <parent link="l_wrist_1"/>
    <child link="l_wrist_2"/>
    <limit lower="-1.0821041362364843" upper="0.9075712110370514" effort="1e+9" velocity="1e+9"/>
    <dynamics damping="2" friction="0"/>
  </joint>
  <link name="l_wrist_2">
    <inertial>
      <mass value="0.02118836"/>
      <origin xyz="-7.4183919215875535e-9 -7.897157534373368e-4 -0.0046969679508168105" rpy="0 -0 0"/>
      <inertia ixx="0.01" ixy="0" ixz="0" iyy="0.01" iyz="0" izz="0.01"/>
    </inertial>
    <visual>
      <origin xyz="0 0 0" rpy="0 -0 0"/>
      <geometry>
        <mesh filename="package://R1Mk3/meshes/simmechanics/sim_emorph_l_wrist_2.stl" scale="0.001 0.001 0.001"/>
      </geometry>
      <material name="">
        <color rgba="0.5 0.5 0.5 1"/>
      </material>
    </visual>
    <collision>
      <origin xyz="0 0 0" rpy="0 -0 0"/>
      <geometry>
        <mesh filename="package://R1Mk3/meshes/simmechanics/sim_emorph_l_wrist_2.stl" scale="0.001 0.001 0.001"/>
      </geometry>
      <material name="">
        <color rgba="0.5 0.5 0.5 1"/>
      </material>
    </collision>
  </link>
  <joint name="l_wrist_pitch" type="revolute">
    <origin xyz="-2.220446049250313e-16 -1.942890293094024e-16 3.3306690738754696e-16" rpy="-2.3886932623546183e-16 7.632783294297951e-16 2.705372411553399e-16"/>
    <axis xyz="-1.820663438805227e-16 -1 -1.1667247808882283e-15"/>
    <parent link="l_wrist_2"/>
    <child link="l_hand_palm"/>
    <limit lower="-0.5585053606381855" upper="0.5585053606381855" effort="1e+9" velocity="1e+9"/>
    <dynamics damping="2" friction="0"/>
  </joint>
  <link name="l_hand_palm">
    <inertial>
      <mass value="0.20364988213680776"/>
      <origin xyz="-0.003950502224178115 0.0019881930945492288 -0.058015852438740544" rpy="0 -0 0"/>
      <inertia ixx="0.01" ixy="0" ixz="0" iyy="0.01" iyz="0" izz="0.01"/>
    </inertial>
    <visual>
      <origin xyz="0 0 0" rpy="0 -0 0"/>
      <geometry>
        <mesh filename="package://R1Mk3/meshes/simmechanics/sim_emorph_l_hand_palm.stl" scale="0.001 0.001 0.001"/>
      </geometry>
      <material name="">
        <color rgba="0.5 0.5 0.5 1"/>
      </material>
    </visual>
    <collision>
      <origin xyz="0 0 0" rpy="0 -0 0"/>
      <geometry>
        <mesh filename="package://R1Mk3/meshes/simmechanics/sim_emorph_l_hand_palm.stl" scale="0.001 0.001 0.001"/>
      </geometry>
      <material name="">
        <color rgba="0.5 0.5 0.5 1"/>
      </material>
    </collision>
  </link>
  <joint name="l_index_add" type="revolute">
    <origin xyz="0.02249999999999995 -0.001500000000000501 -0.06859999999999994" rpy="-1.252207604908352e-15 -0.2967059728390365 1.0514741729292331e-16"/>
    <axis xyz="1.2345755072974314e-15 0.9999999999999999 -1.5044469189520817e-15"/>
    <parent link="l_hand_palm"/>
    <child link="l_hand_index_1"/>
    <limit lower="0" upper="0.2617993877991494" effort="1e+9" velocity="1e+9"/>
    <dynamics damping="2" friction="0"/>
  </joint>
  <link name="l_hand_index_1">
    <inertial>
      <mass value="0.01923264"/>
      <origin xyz="0.008430306749277854 0.0038510231844406384 -0.017148502808541133" rpy="0 -0 0"/>
      <inertia ixx="0.01" ixy="0" ixz="0" iyy="0.01" iyz="0" izz="0.01"/>
    </inertial>
    <visual>
      <origin xyz="0 0 0" rpy="0 -0 0"/>
      <geometry>
        <mesh filename="package://R1Mk3/meshes/simmechanics/sim_emorph_l_hand_index_1.stl" scale="0.001 0.001 0.001"/>
      </geometry>
      <material name="">
        <color rgba="0.5 0.5 0.5 1"/>
      </material>
    </visual>
    <collision>
      <origin xyz="0 0 0" rpy="0 -0 0"/>
      <geometry>
        <mesh filename="package://R1Mk3/meshes/simmechanics/sim_emorph_l_hand_index_1.stl" scale="0.001 0.001 0.001"/>
      </geometry>
      <material name="">
        <color rgba="0.5 0.5 0.5 1"/>
      </material>
    </collision>
  </link>
  <joint name="l_middle_prox" type="revolute">
    <origin xyz="0.009600000000000067 -0.0015000000000003344 -0.10300000000000004" rpy="5.479728916542452e-4 2.185751579730777e-15 -9.227288936186277e-16"/>
    <axis xyz="-1.0000000000000004 -3.7164962121615924e-17 3.448299563192889e-15"/>
    <parent link="l_hand_palm"/>
    <child link="l_hand_middle_1"/>
    <limit lower="0" upper="1.5707963267948966" effort="1e+9" velocity="1e+9"/>
    <dynamics damping="2" friction="0"/>
  </joint>
  <link name="l_hand_middle_1">
    <inertial>
      <mass value="0.007486366"/>
      <origin xyz="5.609414423399586e-5 0.0010938363913530202 -0.0174225309754375" rpy="0 -0 0"/>
      <inertia ixx="0.01" ixy="0" ixz="0" iyy="0.01" iyz="0" izz="0.01"/>
    </inertial>
    <visual>
      <origin xyz="0 0 0" rpy="0 -0 0"/>
      <geometry>
        <mesh filename="package://R1Mk3/meshes/simmechanics/sim_emorph_l_hand_middle_1.stl" scale="0.001 0.001 0.001"/>
      </geometry>
      <material name="">
        <color rgba="0.5 0.5 0.5 1"/>
      </material>
    </visual>
    <collision>
      <origin xyz="0 0 0" rpy="0 -0 0"/>
      <geometry>
        <mesh filename="package://R1Mk3/meshes/simmechanics/sim_emorph_l_hand_middle_1.stl" scale="0.001 0.001 0.001"/>
      </geometry>
      <material name="">
        <color rgba="0.5 0.5 0.5 1"/>
      </material>
    </collision>
  </link>
  <joint name="l_pinkie_prox" type="revolute">
    <origin xyz="-0.0359823222495273 -0.0023883158589562137 -0.09206560929209884" rpy="-1.9934588677535882e-5 0.08728175651239214 0.026187612448127378"/>
    <axis xyz="-0.9999999998538297 7.644772464032958e-6 -1.5293757710324596e-5"/>
    <parent link="l_hand_palm"/>
    <child link="l_hand_pinkie_1"/>
    <limit lower="0" upper="1.5707963267948966" effort="1e+9" velocity="1e+9"/>
    <dynamics damping="2" friction="0"/>
  </joint>
  <link name="l_hand_pinkie_1">
    <inertial>
      <mass value="0.006357586"/>
      <origin xyz="3.6554577562467744e-5 0.0012135491682558897 -0.015052861815374408" rpy="0 -0 0"/>
      <inertia ixx="0.01" ixy="0" ixz="0" iyy="0.01" iyz="0" izz="0.01"/>
    </inertial>
    <visual>
      <origin xyz="0 0 0" rpy="0 -0 0"/>
      <geometry>
        <mesh filename="package://R1Mk3/meshes/simmechanics/sim_emorph_l_hand_pinkie_1.stl" scale="0.001 0.001 0.001"/>
      </geometry>
      <material name="">
        <color rgba="0.5 0.5 0.5 1"/>
      </material>
    </visual>
    <collision>
      <origin xyz="0 0 0" rpy="0 -0 0"/>
      <geometry>
        <mesh filename="package://R1Mk3/meshes/simmechanics/sim_emorph_l_hand_pinkie_1.stl" scale="0.001 0.001 0.001"/>
      </geometry>
      <material name="">
        <color rgba="0.5 0.5 0.5 1"/>
      </material>
    </collision>
  </link>
  <joint name="l_ring_prox" type="revolute">
    <origin xyz="-0.015417755558119903 -0.0018498137284706784 -0.09788067183884441" rpy="-4.001819088243124e-5 0.08726646259973235 0.026179938779914515"/>
    <axis xyz="-1.0000000000000004 2.1873778829895052e-17 3.427813588530171e-15"/>
    <parent link="l_hand_palm"/>
    <child link="l_hand_ring_1"/>
    <limit lower="0" upper="1.5707963267948966" effort="1e+9" velocity="1e+9"/>
    <dynamics damping="2" friction="0"/>
  </joint>
  <link name="l_hand_ring_1">
    <inertial>
      <mass value="0.007486366"/>
      <origin xyz="5.610953414397422e-5 0.001113903955753115 -0.017428756834488968" rpy="0 -0 0"/>
      <inertia ixx="0.01" ixy="0" ixz="0" iyy="0.01" iyz="0" izz="0.01"/>
    </inertial>
    <visual>
      <origin xyz="0 0 0" rpy="0 -0 0"/>
      <geometry>
        <mesh filename="package://R1Mk3/meshes/simmechanics/sim_emorph_l_hand_ring_1.stl" scale="0.001 0.001 0.001"/>
      </geometry>
      <material name="">
        <color rgba="0.5 0.5 0.5 1"/>
      </material>
    </visual>
    <collision>
      <origin xyz="0 0 0" rpy="0 -0 0"/>
      <geometry>
        <mesh filename="package://R1Mk3/meshes/simmechanics/sim_emorph_l_hand_ring_1.stl" scale="0.001 0.001 0.001"/>
      </geometry>
      <material name="">
        <color rgba="0.5 0.5 0.5 1"/>
      </material>
    </collision>
  </link>
  <joint name="l_thumb_add" type="revolute">
    <origin xyz="0.023374863256390772 -0.0030000000000001414 -0.034523838473554724" rpy="-0.04044970061859073 0.2233191863655339 2.9608435412698353"/>
    <axis xyz="-2.7755575615628914e-16 7.008282842946301e-16 -0.9999999999999999"/>
    <parent link="l_hand_palm"/>
    <child link="l_hand_thumb_1"/>
    <limit lower="0" upper="1.7453292519943295" effort="1e+9" velocity="1e+9"/>
    <dynamics damping="2" friction="0"/>
  </joint>
  <link name="l_hand_thumb_1">
    <inertial>
      <mass value="0.029029542280278556"/>
      <origin xyz="-0.018039176431428286 -0.0028662725726853466 0.0021177719486905056" rpy="0 -0 0"/>
      <inertia ixx="0.01" ixy="0" ixz="0" iyy="0.01" iyz="0" izz="0.01"/>
    </inertial>
    <visual>
      <origin xyz="0 0 0" rpy="0 -0 0"/>
      <geometry>
        <mesh filename="package://R1Mk3/meshes/simmechanics/sim_emorph_l_hand_thumb_1.stl" scale="0.001 0.001 0.001"/>
      </geometry>
      <material name="">
        <color rgba="0.5 0.5 0.5 1"/>
      </material>
    </visual>
    <collision>
      <origin xyz="0 0 0" rpy="0 -0 0"/>
      <geometry>
        <mesh filename="package://R1Mk3/meshes/simmechanics/sim_emorph_l_hand_thumb_1.stl" scale="0.001 0.001 0.001"/>
      </geometry>
      <material name="">
        <color rgba="0.5 0.5 0.5 1"/>
      </material>
    </collision>
  </link>
  <joint name="l_thumb_prox" type="revolute">
    <origin xyz="-0.03809319744959137 -0.0032591938585578573 -0.0036017448035498" rpy="1.3718635850670964 0.1374915277173127 -3.141592653589793"/>
    <axis xyz="5.100087019371813e-16 3.164135620181696e-15 -0.9999999999999997"/>
    <parent link="l_hand_thumb_1"/>
    <child link="l_hand_thumb_2"/>
    <limit lower="0" upper="1.5707963267948966" effort="1e+9" velocity="1e+9"/>
    <dynamics damping="2" friction="0"/>
  </joint>
  <link name="l_hand_thumb_2">
    <inertial>
      <mass value="0.00669603218404702"/>
      <origin xyz="0.014887264468035857 0.0011329726380328031 6.266005936719776e-5" rpy="0 -0 0"/>
      <inertia ixx="0.01" ixy="0" ixz="0" iyy="0.01" iyz="0" izz="0.01"/>
    </inertial>
    <visual>
      <origin xyz="0 0 0" rpy="0 -0 0"/>
      <geometry>
        <mesh filename="package://R1Mk3/meshes/simmechanics/sim_emorph_l_hand_thumb_2.stl" scale="0.001 0.001 0.001"/>
      </geometry>
      <material name="">
        <color rgba="0.5 0.5 0.5 1"/>
      </material>
    </visual>
    <collision>
      <origin xyz="0 0 0" rpy="0 -0 0"/>
      <geometry>
        <mesh filename="package://R1Mk3/meshes/simmechanics/sim_emorph_l_hand_thumb_2.stl" scale="0.001 0.001 0.001"/>
      </geometry>
      <material name="">
        <color rgba="0.5 0.5 0.5 1"/>
      </material>
    </collision>
  </link>
  <joint name="l_thumb_dist" type="revolute">
    <origin xyz="0.03499999999999995 -0.0014999999999998903 -5.551115123125783e-17" rpy="-4.761815941556338e-16 -2.498001805406602e-16 -1.4810340454030065e-12"/>
    <axis xyz="-2.102484852883521e-15 2.263814136122298e-16 -0.9999999999999993"/>
    <parent link="l_hand_thumb_2"/>
    <child link="l_hand_thumb_3"/>
    <limit lower="0" upper="1.7697638615222502" effort="1e+9" velocity="1e+9"/>
    <dynamics damping="2" friction="0"/>
  </joint>
  <link name="l_hand_thumb_3">
    <inertial>
      <mass value="0.006831595"/>
      <origin xyz="0.016086252532748233 0.0026526887310780456 4.701425890352162e-5" rpy="0 -0 0"/>
      <inertia ixx="0.01" ixy="0" ixz="0" iyy="0.01" iyz="0" izz="0.01"/>
    </inertial>
    <visual>
      <origin xyz="0 0 0" rpy="0 -0 0"/>
      <geometry>
        <mesh filename="package://R1Mk3/meshes/simmechanics/sim_emorph_l_hand_thumb_3.stl" scale="0.001 0.001 0.001"/>
      </geometry>
      <material name="">
        <color rgba="0.5 0.5 0.5 1"/>
      </material>
    </visual>
    <collision>
      <origin xyz="0 0 0" rpy="0 -0 0"/>
      <geometry>
        <mesh filename="package://R1Mk3/meshes/simmechanics/sim_emorph_l_hand_thumb_3.stl" scale="0.001 0.001 0.001"/>
      </geometry>
      <material name="">
        <color rgba="0.5 0.5 0.5 1"/>
      </material>
    </collision>
  </link>
  <joint name="l_ring_dist" type="revolute">
    <origin xyz="-2.7755575615628914e-17 -0.0014999999999998626 -0.04000000000000009" rpy="-1.204430863606553e-4 -5.551115123125783e-17 -6.591949208711866e-17"/>
    <axis xyz="-1.0000000000000002 2.1042471424136875e-15 -3.3978286550657235e-16"/>
    <parent link="l_hand_ring_1"/>
    <child link="l_hand_ring_2"/>
    <limit lower="0" upper="1.7994344588061537" effort="1e+9" velocity="1e+9"/>
    <dynamics damping="2" friction="0"/>
  </joint>
  <link name="l_hand_ring_2">
    <inertial>
      <mass value="0.007251413"/>
      <origin xyz="4.433654030530642e-5 0.0027546754597598533 -0.01889085949732494" rpy="0 -0 0"/>
      <inertia ixx="0.01" ixy="0" ixz="0" iyy="0.01" iyz="0" izz="0.01"/>
    </inertial>
    <visual>
      <origin xyz="0 0 0" rpy="0 -0 0"/>
      <geometry>
        <mesh filename="package://R1Mk3/meshes/simmechanics/sim_emorph_l_hand_ring_2.stl" scale="0.001 0.001 0.001"/>
      </geometry>
      <material name="">
        <color rgba="0.5 0.5 0.5 1"/>
      </material>
    </visual>
    <collision>
      <origin xyz="0 0 0" rpy="0 -0 0"/>
      <geometry>
        <mesh filename="package://R1Mk3/meshes/simmechanics/sim_emorph_l_hand_ring_2.stl" scale="0.001 0.001 0.001"/>
      </geometry>
      <material name="">
        <color rgba="0.5 0.5 0.5 1"/>
      </material>
    </collision>
  </link>
  <joint name="l_pinkie_dist" type="revolute">
    <origin xyz="0 -0.0014999999959518229 -0.03500000000409309" rpy="-4.4386812336867395e-5 3.608224830031759e-16 -3.400058012914541e-16"/>
    <axis xyz="-0.9999999998538295 7.645451295563488e-6 -1.5293418371443034e-5"/>
    <parent link="l_hand_pinkie_1"/>
    <child link="l_hand_pinkie_2"/>
    <limit lower="0" upper="1.7226399717184033" effort="1e+9" velocity="1e+9"/>
    <dynamics damping="2" friction="0"/>
  </joint>
  <link name="l_hand_pinkie_2">
    <inertial>
      <mass value="0.007240237"/>
      <origin xyz="2.2378292628411067e-5 0.0027712834790767915 -0.018930353878106154" rpy="0 -0 0"/>
      <inertia ixx="0.01" ixy="0" ixz="0" iyy="0.01" iyz="0" izz="0.01"/>
    </inertial>
    <visual>
      <origin xyz="0 0 0" rpy="0 -0 0"/>
      <geometry>
        <mesh filename="package://R1Mk3/meshes/simmechanics/sim_emorph_l_hand_pinkie_2.stl" scale="0.001 0.001 0.001"/>
      </geometry>
      <material name="">
        <color rgba="0.5 0.5 0.5 1"/>
      </material>
    </visual>
    <collision>
      <origin xyz="0 0 0" rpy="0 -0 0"/>
      <geometry>
        <mesh filename="package://R1Mk3/meshes/simmechanics/sim_emorph_l_hand_pinkie_2.stl" scale="0.001 0.001 0.001"/>
      </geometry>
      <material name="">
        <color rgba="0.5 0.5 0.5 1"/>
      </material>
    </collision>
  </link>
  <joint name="l_middle_dist" type="revolute">
    <origin xyz="1.1102230246251565e-16 -0.0014999999999998626 -0.040000000000000036" rpy="0.017535706363213603 -2.3592239273284576e-16 -8.049862317525965e-17"/>
    <axis xyz="-1.0000000000000004 -4.611751723658998e-16 -2.8219344323360823e-15"/>
    <parent link="l_hand_middle_1"/>
    <child link="l_hand_middle_2"/>
    <limit lower="0" upper="1.7994344588061537" effort="1e+9" velocity="1e+9"/>
    <dynamics damping="2" friction="0"/>
  </joint>
  <link name="l_hand_middle_2">
    <inertial>
      <mass value="0.007251413"/>
      <origin xyz="4.4316320155644157e-5 0.0027547229469275236 -0.018890877319942878" rpy="0 -0 0"/>
      <inertia ixx="0.01" ixy="0" ixz="0" iyy="0.01" iyz="0" izz="0.01"/>
    </inertial>
    <visual>
      <origin xyz="0 0 0" rpy="0 -0 0"/>
      <geometry>
        <mesh filename="package://R1Mk3/meshes/simmechanics/sim_emorph_l_hand_middle_2.stl" scale="0.001 0.001 0.001"/>
      </geometry>
      <material name="">
        <color rgba="0.5 0.5 0.5 1"/>
      </material>
    </visual>
    <collision>
      <origin xyz="0 0 0" rpy="0 -0 0"/>
      <geometry>
        <mesh filename="package://R1Mk3/meshes/simmechanics/sim_emorph_l_hand_middle_2.stl" scale="0.001 0.001 0.001"/>
      </geometry>
      <material name="">
        <color rgba="0.5 0.5 0.5 1"/>
      </material>
    </collision>
  </link>
  <joint name="l_index_prox" type="revolute">
    <origin xyz="0.009192533317427934 2.7755575615628914e-17 -0.03071345131623815" rpy="2.663478161982204e-16 8.326672684688674e-17 -1.3437669488421125e-16"/>
    <axis xyz="-0.9999999999999999 7.452822674324313e-16 4.1355807667287065e-15"/>
    <parent link="l_hand_index_1"/>
    <child link="l_hand_index_2"/>
    <limit lower="0" upper="1.5707963267948966" effort="1e+9" velocity="1e+9"/>
    <dynamics damping="2" friction="0"/>
  </joint>
  <link name="l_hand_index_2">
    <inertial>
      <mass value="0.007486366"/>
      <origin xyz="5.6100110941745274e-5 0.001113133191428639 -0.01742880406449937" rpy="0 -0 0"/>
      <inertia ixx="0.01" ixy="0" ixz="0" iyy="0.01" iyz="0" izz="0.01"/>
    </inertial>
    <visual>
      <origin xyz="0 0 0" rpy="0 -0 0"/>
      <geometry>
        <mesh filename="package://R1Mk3/meshes/simmechanics/sim_emorph_l_hand_index_2.stl" scale="0.001 0.001 0.001"/>
      </geometry>
      <material name="">
        <color rgba="0.5 0.5 0.5 1"/>
      </material>
    </visual>
    <collision>
      <origin xyz="0 0 0" rpy="0 -0 0"/>
      <geometry>
        <mesh filename="package://R1Mk3/meshes/simmechanics/sim_emorph_l_hand_index_2.stl" scale="0.001 0.001 0.001"/>
      </geometry>
      <material name="">
        <color rgba="0.5 0.5 0.5 1"/>
      </material>
    </collision>
  </link>
  <joint name="l_index_dist" type="revolute">
    <origin xyz="1.1102230246251565e-16 -0.0015000000000004732 -0.03999999999999959" rpy="-7.482326192699012e-8 -0 -2.1792633073548092e-16"/>
    <axis xyz="-0.9999999999999999 2.3144325758661227e-16 2.4980018780932863e-16"/>
    <parent link="l_hand_index_2"/>
    <child link="l_hand_index_3"/>
    <limit lower="0" upper="1.7994344588061537" effort="1e+9" velocity="1e+9"/>
    <dynamics damping="2" friction="0"/>
  </joint>
  <link name="l_hand_index_3">
    <inertial>
      <mass value="0.007251413"/>
      <origin xyz="4.431356673249148e-5 0.0027546711855188366 -0.018890916917498335" rpy="0 -0 0"/>
      <inertia ixx="0.01" ixy="0" ixz="0" iyy="0.01" iyz="0" izz="0.01"/>
    </inertial>
    <visual>
      <origin xyz="0 0 0" rpy="0 -0 0"/>
      <geometry>
        <mesh filename="package://R1Mk3/meshes/simmechanics/sim_emorph_l_hand_index_3.stl" scale="0.001 0.001 0.001"/>
      </geometry>
      <material name="">
        <color rgba="0.5 0.5 0.5 1"/>
      </material>
    </visual>
    <collision>
      <origin xyz="0 0 0" rpy="0 -0 0"/>
      <geometry>
        <mesh filename="package://R1Mk3/meshes/simmechanics/sim_emorph_l_hand_index_3.stl" scale="0.001 0.001 0.001"/>
      </geometry>
      <material name="">
        <color rgba="0.5 0.5 0.5 1"/>
      </material>
    </collision>
  </link>
  <joint name="neck_yaw_joint" type="revolute">
    <origin xyz="0.011679488023179689 -9.677503327256982e-18 0.1583779958185998" rpy="-1.2299256863622814e-15 0.17453292519943311 -7.040232933848852e-15"/>
    <axis xyz="-5.551115123125783e-17 1.0407701698506794e-17 -1.0000000000000002"/>
    <parent link="neck_link"/>
    <child link="head_link"/>
    <limit lower="-1.3962634015954636" upper="1.3962634015954636" effort="1e+9" velocity="1e+9"/>
    <dynamics damping="2" friction="0"/>
  </joint>
  <link name="head_link">
    <inertial>
      <mass value="2.000000000000001"/>
      <origin xyz="0.040406180045669704 -4.254262598951279e-6 0.0013074297220510012" rpy="0 -0 0"/>
      <inertia ixx="0.014268636485556811" ixy="-2.458069266749117e-7" ixz="5.550255193361971e-4" iyy="0.004580707834695642" iyz="-4.3342393217813975e-8" izz="0.01322280437463689"/>
    </inertial>
    <visual>
      <origin xyz="0 0 0" rpy="0 -0 0"/>
      <geometry>
        <mesh filename="package://R1Mk3/meshes/simmechanics/sim_cer_emorph_head.stl" scale="0.001 0.001 0.001"/>
      </geometry>
      <material name="">
        <color rgba="0.5 0.5 0.5 1"/>
      </material>
    </visual>
    <collision>
      <origin xyz="0 0 0" rpy="0 -0 0"/>
      <geometry>
        <mesh filename="package://R1Mk3/meshes/simmechanics/sim_cer_emorph_head.stl" scale="0.001 0.001 0.001"/>
      </geometry>
      <material name="">
        <color rgba="0.5 0.5 0.5 1"/>
      </material>
    </collision>
  </link>
  <link name="torso"/>
  <joint name="torso_fixed_joint" type="fixed">
    <origin xyz="0 0 0" rpy="0 -0 0"/>
    <parent link="chest_link"/>
    <child link="torso"/>
  </joint>
  <link name="gaze"/>
  <joint name="gaze_fixed_joint" type="fixed">
    <origin xyz="0.051140163768605695 5.572796850796502e-17 -0.005076527617396742" rpy="-1.3962634015954642 -1.0632884247878182e-17 -1.5707963267948954"/>
    <parent link="head_link"/>
    <child link="gaze"/>
  </joint>
  <link name="depth_center"/>
  <joint name="depth_center_fixed_joint" type="fixed">
    <origin xyz="0.05132104198001797 5.593391840255621e-17 0.05375374559540269" rpy="-1.3962634015954642 -1.0632884247878182e-17 -1.5707963267948954"/>
    <parent link="head_link"/>
    <child link="depth_center"/>
  </joint>
  <link name="depth"/>
  <joint name="depth_fixed_joint" type="fixed">
    <origin xyz="0.05132675386498539 0.04448710000000006 0.05375475275483321" rpy="-1.3962634015954642 -1.0632884247878182e-17 -1.5707963267948954"/>
    <parent link="head_link"/>
    <child link="depth"/>
  </joint>
  <link name="depth_rgb"/>
  <joint name="depth_rgb_fixed_joint" type="fixed">
    <origin xyz="0.05132675386498542 0.01848710000000006 0.05375475275483321" rpy="-1.3962634015954642 -1.0632884247878182e-17 -1.5707963267948954"/>
    <parent link="head_link"/>
    <child link="depth_rgb"/>
  </joint>
  <link name="head_leopard_cyclopic"/>
  <joint name="head_leopard_cyclopic_fixed_joint" type="fixed">
    <origin xyz="0.06309093082190956 6.933524157692891e-17 -0.05739097266709292" rpy="-1.3962634015954642 -1.0632884247878182e-17 -1.5707963267948954"/>
    <parent link="head_link"/>
    <child link="head_leopard_cyclopic"/>
  </joint>
  <link name="head_leopard_left"/>
  <joint name="head_leopard_left_fixed_joint" type="fixed">
    <origin xyz="0.06309093082190953 0.033510500000000075 -0.05739097266709292" rpy="-1.3962634015954642 -1.0632884247878182e-17 -1.5707963267948954"/>
    <parent link="head_link"/>
    <child link="head_leopard_left"/>
  </joint>
  <link name="head_leopard_right"/>
  <joint name="head_leopard_right_fixed_joint" type="fixed">
    <origin xyz="0.06309093082190959 -0.03351049999999993 -0.05739097266709292" rpy="-1.3962634015954642 -1.0632884247878182e-17 -1.5707963267948954"/>
    <parent link="head_link"/>
    <child link="head_leopard_right"/>
  </joint>
  <link name="l_hand_index_skin_0"/>
  <joint name="l_hand_index_skin_0_fixed_joint" type="fixed">
    <origin xyz="-1.3877787807814457e-17 -0.002433918058236534 -0.03140545777888892" rpy="-5.286130912234566e-16 1.2225055986691187 -1.570796326794897"/>
    <parent link="l_hand_index_3"/>
    <child link="l_hand_index_skin_0"/>
  </joint>
  <link name="l_hand_index_skin_1"/>
  <joint name="l_hand_index_skin_1_fixed_joint" type="fixed">
    <origin xyz="0.0032999999999999974 -0.0031311476143919548 -0.033280418005286916" rpy="-5.049308804587452e-16 1.2200949024613605 -1.570796326794897"/>
    <parent link="l_hand_index_3"/>
    <child link="l_hand_index_skin_1"/>
  </joint>
  <link name="l_hand_index_skin_10"/>
  <joint name="l_hand_index_skin_10_fixed_joint" type="fixed">
    <origin xyz="-0.003300000000000025 -0.004081940988398508 -0.03776668459795801" rpy="-3.1415926535897913 1.5049109712528748 1.5707963267948997"/>
    <parent link="l_hand_index_3"/>
    <child link="l_hand_index_skin_10"/>
  </joint>
  <link name="l_hand_index_skin_11"/>
  <joint name="l_hand_index_skin_11_fixed_joint" type="fixed">
    <origin xyz="-0.0033000000000000113 -0.0031311476143919548 -0.033280418005286916" rpy="-5.049308804587451e-16 1.2200949024613599 -1.570796326794897"/>
    <parent link="l_hand_index_3"/>
    <child link="l_hand_index_skin_11"/>
  </joint>
  <link name="l_hand_index_skin_2"/>
  <joint name="l_hand_index_skin_2_fixed_joint" type="fixed">
    <origin xyz="-6.938893903907228e-18 -0.003758241653579991 -0.035192049408458936" rpy="-6.620570360759466e-16 1.3056813328515076 -1.5707963267948972"/>
    <parent link="l_hand_index_3"/>
    <child link="l_hand_index_skin_2"/>
  </joint>
  <link name="l_hand_index_skin_3"/>
  <joint name="l_hand_index_skin_3_fixed_joint" type="fixed">
    <origin xyz="0.0032999999999999974 -0.004081940988398425 -0.03776668459795801" rpy="-3.1415926535897913 1.5049109712528748 1.5707963267948997"/>
    <parent link="l_hand_index_3"/>
    <child link="l_hand_index_skin_3"/>
  </joint>
  <link name="l_hand_index_skin_4"/>
  <joint name="l_hand_index_skin_4_fixed_joint" type="fixed">
    <origin xyz="0.005929525942276338 -0.001192320688661208 -0.03799999999999998" rpy="3.1415926535897922 1.2994442229713599 2.7771555423255903"/>
    <parent link="l_hand_index_3"/>
    <child link="l_hand_index_skin_4"/>
  </joint>
  <link name="l_hand_index_skin_5"/>
  <joint name="l_hand_index_skin_5_fixed_joint" type="fixed">
    <origin xyz="1.3877787807814457e-17 -0.0034840921633512434 -0.03982136611863335" rpy="-3.1415926535897927 1.088751329798359 1.5707963267948972"/>
    <parent link="l_hand_index_3"/>
    <child link="l_hand_index_skin_5"/>
  </joint>
  <link name="l_hand_index_skin_6"/>
  <joint name="l_hand_index_skin_6_fixed_joint" type="fixed">
    <origin xyz="0.0032999999999999696 -0.001828801718873424 -0.04176963440415199" rpy="3.141592653589793 0.7788155893137823 2.5320677565812"/>
    <parent link="l_hand_index_3"/>
    <child link="l_hand_index_skin_6"/>
  </joint>
  <link name="l_hand_index_skin_7"/>
  <joint name="l_hand_index_skin_7_fixed_joint" type="fixed">
    <origin xyz="-6.938893903907228e-18 -2.9018466437888413e-4 -0.043259640911881" rpy="-3.141592653589793 0.6209480183022732 1.571212482632116"/>
    <parent link="l_hand_index_3"/>
    <child link="l_hand_index_skin_7"/>
  </joint>
  <link name="l_hand_index_skin_8"/>
  <joint name="l_hand_index_skin_8_fixed_joint" type="fixed">
    <origin xyz="-0.003300000000000025 -0.0018288017188733685 -0.041769634404151934" rpy="-3.1415926535897927 0.7788155893137829 0.6095248970085935"/>
    <parent link="l_hand_index_3"/>
    <child link="l_hand_index_skin_8"/>
  </joint>
  <link name="l_hand_index_skin_9"/>
  <joint name="l_hand_index_skin_9_fixed_joint" type="fixed">
    <origin xyz="-0.005929525942276387 -0.001192320688661208 -0.03799999999999998" rpy="-3.141592653589792 1.2994442229713608 0.36443711126420336"/>
    <parent link="l_hand_index_3"/>
    <child link="l_hand_index_skin_9"/>
  </joint>
  <link name="l_hand_middle_skin_0"/>
  <joint name="l_hand_middle_skin_0_fixed_joint" type="fixed">
    <origin xyz="0 -0.002433918058236506 -0.03140545777888887" rpy="1.626501819149097e-16 1.22250559866912 -1.5707963267948966"/>
    <parent link="l_hand_middle_2"/>
    <child link="l_hand_middle_skin_0"/>
  </joint>
  <link name="l_hand_middle_skin_1"/>
  <joint name="l_hand_middle_skin_1_fixed_joint" type="fixed">
    <origin xyz="0.0033000000000000043 -0.003131147614391927 -0.033280418005286805" rpy="1.615778817467984e-16 1.2200949024613614 -1.5707963267948966"/>
    <parent link="l_hand_middle_2"/>
    <child link="l_hand_middle_skin_1"/>
  </joint>
  <link name="l_hand_middle_skin_10"/>
  <joint name="l_hand_middle_skin_10_fixed_joint" type="fixed">
    <origin xyz="-0.003299999999999973 -0.004081940988398425 -0.037766684597957956" rpy="3.1415926535897922 1.5049109712528765 1.5707963267948972"/>
    <parent link="l_hand_middle_2"/>
    <child link="l_hand_middle_skin_10"/>
  </joint>
  <link name="l_hand_middle_skin_11"/>
  <joint name="l_hand_middle_skin_11_fixed_joint" type="fixed">
    <origin xyz="-0.003299999999999994 -0.0031311476143918715 -0.033280418005286805" rpy="1.615778817467984e-16 1.2200949024613614 -1.5707963267948966"/>
    <parent link="l_hand_middle_2"/>
    <child link="l_hand_middle_skin_11"/>
  </joint>
  <link name="l_hand_middle_skin_2"/>
  <joint name="l_hand_middle_skin_2_fixed_joint" type="fixed">
    <origin xyz="-6.938893903907228e-18 -0.0037582416535799634 -0.035192049408458936" rpy="2.118582515443029e-16 1.305681332851508 -1.5707963267948966"/>
    <parent link="l_hand_middle_2"/>
    <child link="l_hand_middle_skin_2"/>
  </joint>
  <link name="l_hand_middle_skin_3"/>
  <joint name="l_hand_middle_skin_3_fixed_joint" type="fixed">
    <origin xyz="0.0033000000000000113 -0.004081940988398369 -0.03776668459795801" rpy="3.1415926535897922 1.5049109712528765 1.5707963267948968"/>
    <parent link="l_hand_middle_2"/>
    <child link="l_hand_middle_skin_3"/>
  </joint>
  <link name="l_hand_middle_skin_4"/>
  <joint name="l_hand_middle_skin_4_fixed_joint" type="fixed">
    <origin xyz="0.005929525942276356 -0.0011923206886611804 -0.03799999999999998" rpy="3.1415926535897922 1.2994442229713614 2.7771555423255903"/>
    <parent link="l_hand_middle_2"/>
    <child link="l_hand_middle_skin_4"/>
  </joint>
  <link name="l_hand_middle_skin_5"/>
  <joint name="l_hand_middle_skin_5_fixed_joint" type="fixed">
    <origin xyz="1.0408340855860843e-17 -0.0034840921633511046 -0.03982136611863335" rpy="3.141592653589793 1.0887513297983595 1.570796326794897"/>
    <parent link="l_hand_middle_2"/>
    <child link="l_hand_middle_skin_5"/>
  </joint>
  <link name="l_hand_middle_skin_6"/>
  <joint name="l_hand_middle_skin_6_fixed_joint" type="fixed">
    <origin xyz="0.003300000000000008 -0.0018288017188733685 -0.04176963440415188" rpy="3.1415926535897927 0.7788155893137828 2.5320677565811995"/>
    <parent link="l_hand_middle_2"/>
    <child link="l_hand_middle_skin_6"/>
  </joint>
  <link name="l_hand_middle_skin_7"/>
  <joint name="l_hand_middle_skin_7_fixed_joint" type="fixed">
    <origin xyz="-3.469446951953614e-18 -2.9018466437885637e-4 -0.04325964091188095" rpy="3.141592653589793 0.6209480183022731 1.571212482632116"/>
    <parent link="l_hand_middle_2"/>
    <child link="l_hand_middle_skin_7"/>
  </joint>
  <link name="l_hand_middle_skin_8"/>
  <joint name="l_hand_middle_skin_8_fixed_joint" type="fixed">
    <origin xyz="-0.003299999999999994 -0.0018288017188733963 -0.041769634404151934" rpy="-3.141592653589793 0.7788155893137828 0.6095248970085932"/>
    <parent link="l_hand_middle_2"/>
    <child link="l_hand_middle_skin_8"/>
  </joint>
  <link name="l_hand_middle_skin_9"/>
  <joint name="l_hand_middle_skin_9_fixed_joint" type="fixed">
    <origin xyz="-0.0059295259422763695 -0.001192320688661208 -0.03799999999999998" rpy="-3.1415926535897922 1.2994442229713608 0.3644371112642029"/>
    <parent link="l_hand_middle_2"/>
    <child link="l_hand_middle_skin_9"/>
  </joint>
  <link name="l_hand_pinkie_skin_0"/>
  <joint name="l_hand_pinkie_skin_0_fixed_joint" type="fixed">
    <origin xyz="1.1364587082021704e-6 -0.0024339180633243807 -0.03140545776518122" rpy="4.4810406990145916e-5 1.222505598463966 -1.5707618523704918"/>
    <parent link="l_hand_pinkie_2"/>
    <child link="l_hand_pinkie_skin_0"/>
  </joint>
  <link name="l_hand_pinkie_skin_1"/>
  <joint name="l_hand_pinkie_skin_1_fixed_joint" type="fixed">
    <origin xyz="0.003301159802142385 -0.003131172849448638 -0.033280367523160825" rpy="4.451498643578038e-5 1.2200949022586114 -1.5707621667995164"/>
    <parent link="l_hand_pinkie_2"/>
    <child link="l_hand_pinkie_skin_1"/>
  </joint>
  <link name="l_hand_pinkie_skin_10"/>
  <joint name="l_hand_pinkie_skin_10_fixed_joint" type="fixed">
    <origin xyz="-0.003298778855785424 -0.004081915763448796 -0.037766735051979805" rpy="3.14136036390978 1.5049109693635563 1.5705568956520668"/>
    <parent link="l_hand_pinkie_2"/>
    <child link="l_hand_pinkie_skin_10"/>
  </joint>
  <link name="l_hand_pinkie_skin_11"/>
  <joint name="l_hand_pinkie_skin_11_fixed_joint" type="fixed">
    <origin xyz="-0.003298840196892895 -0.0031311223894700813 -0.033280468459722046" rpy="4.4514986435780384e-5 1.2200949022586114 -1.5707621667995162"/>
    <parent link="l_hand_pinkie_2"/>
    <child link="l_hand_pinkie_skin_11"/>
  </joint>
  <link name="l_hand_pinkie_skin_2"/>
  <joint name="l_hand_pinkie_skin_2_fixed_joint" type="fixed">
    <origin xyz="1.1842435866243894e-6 -0.0037582416586290635 -0.0351920493944633" rpy="5.8367315429754e-5 1.305681332537708 -1.570747644146057"/>
    <parent link="l_hand_pinkie_2"/>
    <child link="l_hand_pinkie_skin_2"/>
  </joint>
  <link name="l_hand_pinkie_skin_3"/>
  <joint name="l_hand_pinkie_skin_3_fixed_joint" type="fixed">
    <origin xyz="0.0033012211432498564 -0.00408196622342738 -0.03776663411541853" rpy="3.14136036390978 1.5049109693635563 1.5705568956520668"/>
    <parent link="l_hand_pinkie_2"/>
    <child link="l_hand_pinkie_skin_3"/>
  </joint>
  <link name="l_hand_pinkie_skin_4"/>
  <joint name="l_hand_pinkie_skin_4_fixed_joint" type="fixed">
    <origin xyz="0.005930772745783179 -0.0011923660276871306 -0.037999909302654955" rpy="3.141572315440389 1.2994585118923023 2.7771283028717044"/>
    <parent link="l_hand_pinkie_2"/>
    <child link="l_hand_pinkie_skin_4"/>
  </joint>
  <link name="l_hand_pinkie_skin_5"/>
  <joint name="l_hand_pinkie_skin_5_fixed_joint" type="fixed">
    <origin xyz="1.2571376604118834e-6 -0.003484092168408337 -0.03982136610406428" rpy="3.1415596646367674 1.0887513294579219 1.570759451523612"/>
    <parent link="l_hand_pinkie_2"/>
    <child link="l_hand_pinkie_skin_5"/>
  </joint>
  <link name="l_hand_pinkie_skin_6"/>
  <joint name="l_hand_pinkie_skin_6_fixed_joint" type="fixed">
    <origin xyz="0.0033012995883024976 -0.00182882695396816 -0.04176958392088087" rpy="3.1415803523625088 0.7788281285900823 2.532051470238895"/>
    <parent link="l_hand_pinkie_2"/>
    <child link="l_hand_pinkie_skin_6"/>
  </joint>
  <link name="l_hand_pinkie_skin_7"/>
  <joint name="l_hand_pinkie_skin_7_fixed_joint" type="fixed">
    <origin xyz="1.3341394995113054e-6 -2.901846695293475e-4 -0.04325964089653633" rpy="3.141573850067606 0.6209480244661378 1.571193897169884"/>
    <parent link="l_hand_pinkie_2"/>
    <child link="l_hand_pinkie_skin_7"/>
  </joint>
  <link name="l_hand_pinkie_skin_8"/>
  <joint name="l_hand_pinkie_skin_8_fixed_joint" type="fixed">
    <origin xyz="-0.003298700410732769 -0.0018287764939896034 -0.041769684857442146" rpy="3.1415803529363586 0.7788030498279591 0.6095086111791652"/>
    <parent link="l_hand_pinkie_2"/>
    <child link="l_hand_pinkie_skin_8"/>
  </joint>
  <link name="l_hand_pinkie_skin_9"/>
  <joint name="l_hand_pinkie_skin_9_fixed_joint" type="fixed">
    <origin xyz="-0.005928279137036092 -0.0011922753598834768 -0.0380000906680969" rpy="3.14157231834453 1.2994299338602708 0.36440987468608"/>
    <parent link="l_hand_pinkie_2"/>
    <child link="l_hand_pinkie_skin_9"/>
  </joint>
  <link name="l_hand_ring_skin_0"/>
  <joint name="l_hand_ring_skin_0_fixed_joint" type="fixed">
    <origin xyz="6.938893903907228e-18 -0.0024339180582365616 -0.03140545777888881" rpy="5.692756367021836e-16 1.222505598669119 -1.5707963267948966"/>
    <parent link="l_hand_ring_2"/>
    <child link="l_hand_ring_skin_0"/>
  </joint>
  <link name="l_hand_ring_skin_1"/>
  <joint name="l_hand_ring_skin_1_fixed_joint" type="fixed">
    <origin xyz="0.0033000000000000095 -0.0031311476143919548 -0.033280418005286805" rpy="5.655225861137946e-16 1.2200949024613605 -1.5707963267948966"/>
    <parent link="l_hand_ring_2"/>
    <child link="l_hand_ring_skin_1"/>
  </joint>
  <link name="l_hand_ring_skin_10"/>
  <joint name="l_hand_ring_skin_10_fixed_joint" type="fixed">
    <origin xyz="-0.0033000000000000043 -0.004081940988398369 -0.037766684597957956" rpy="3.141592653589791 1.5049109712528765 1.5707963267948966"/>
    <parent link="l_hand_ring_2"/>
    <child link="l_hand_ring_skin_10"/>
  </joint>
  <link name="l_hand_ring_skin_11"/>
  <joint name="l_hand_ring_skin_11_fixed_joint" type="fixed">
    <origin xyz="-0.0032999999999999887 -0.003131147614391927 -0.03328041800528686" rpy="5.655225861137945e-16 1.2200949024613605 -1.5707963267948966"/>
    <parent link="l_hand_ring_2"/>
    <child link="l_hand_ring_skin_11"/>
  </joint>
  <link name="l_hand_ring_skin_2"/>
  <joint name="l_hand_ring_skin_2_fixed_joint" type="fixed">
    <origin xyz="-5.204170427930421e-18 -0.003758241653579991 -0.03519204940845888" rpy="6.885393175189842e-16 1.305681332851508 -1.5707963267948963"/>
    <parent link="l_hand_ring_2"/>
    <child link="l_hand_ring_skin_2"/>
  </joint>
  <link name="l_hand_ring_skin_3"/>
  <joint name="l_hand_ring_skin_3_fixed_joint" type="fixed">
    <origin xyz="0.003300000000000008 -0.004081940988398397 -0.037766684597957956" rpy="3.141592653589791 1.5049109712528765 1.5707963267948968"/>
    <parent link="l_hand_ring_2"/>
    <child link="l_hand_ring_skin_3"/>
  </joint>
  <link name="l_hand_ring_skin_4"/>
  <joint name="l_hand_ring_skin_4_fixed_joint" type="fixed">
    <origin xyz="0.005929525942276373 -0.0011923206886612359 -0.03799999999999992" rpy="3.141592653589792 1.299444222971361 2.7771555423255903"/>
    <parent link="l_hand_ring_2"/>
    <child link="l_hand_ring_skin_4"/>
  </joint>
  <link name="l_hand_ring_skin_5"/>
  <joint name="l_hand_ring_skin_5_fixed_joint" type="fixed">
    <origin xyz="6.938893903907228e-18 -0.00348409216335116 -0.03982136611863335" rpy="3.1415926535897927 1.088751329798359 1.5707963267948968"/>
    <parent link="l_hand_ring_2"/>
    <child link="l_hand_ring_skin_5"/>
  </joint>
  <link name="l_hand_ring_skin_6"/>
  <joint name="l_hand_ring_skin_6_fixed_joint" type="fixed">
    <origin xyz="0.003299999999999994 -0.0018288017188733685 -0.041769634404151934" rpy="3.1415926535897927 0.7788155893137829 2.5320677565811995"/>
    <parent link="l_hand_ring_2"/>
    <child link="l_hand_ring_skin_6"/>
  </joint>
  <link name="l_hand_ring_skin_7"/>
  <joint name="l_hand_ring_skin_7_fixed_joint" type="fixed">
    <origin xyz="1.9081958235744878e-17 -2.9018466437888413e-4 -0.04325964091188089" rpy="3.141592653589793 0.6209480183022733 1.5712124826321159"/>
    <parent link="l_hand_ring_2"/>
    <child link="l_hand_ring_skin_7"/>
  </joint>
  <link name="l_hand_ring_skin_8"/>
  <joint name="l_hand_ring_skin_8_fixed_joint" type="fixed">
    <origin xyz="-0.0032999999999999852 -0.0018288017188733685 -0.041769634404151934" rpy="-3.141592653589793 0.7788155893137823 0.6095248970085929"/>
    <parent link="l_hand_ring_2"/>
    <child link="l_hand_ring_skin_8"/>
  </joint>
  <link name="l_hand_ring_skin_9"/>
  <joint name="l_hand_ring_skin_9_fixed_joint" type="fixed">
    <origin xyz="-0.005929525942276356 -0.0011923206886611804 -0.03799999999999992" rpy="-3.1415926535897927 1.2994442229713594 0.3644371112642026"/>
    <parent link="l_hand_ring_2"/>
    <child link="l_hand_ring_skin_9"/>
  </joint>
  <link name="l_hand_thumb_skin_0"/>
  <joint name="l_hand_thumb_skin_0_fixed_joint" type="fixed">
    <origin xyz="0.026405457778888957 -0.002433918058236617 5.551115123125783e-17" rpy="-1.5707963267948963 1.1102230246251565e-16 2.793301925464017"/>
    <parent link="l_hand_thumb_3"/>
    <child link="l_hand_thumb_skin_0"/>
  </joint>
  <link name="l_hand_thumb_skin_1"/>
  <joint name="l_hand_thumb_skin_1_fixed_joint" type="fixed">
    <origin xyz="0.028280418005286963 -0.0031311476143920103 0.0033000000000000806" rpy="-1.5707963267948961 -7.216449660063518e-16 -2.1816615649914324"/>
    <parent link="l_hand_thumb_3"/>
    <child link="l_hand_thumb_skin_1"/>
  </joint>
  <link name="l_hand_thumb_skin_10"/>
  <joint name="l_hand_thumb_skin_10_fixed_joint" type="fixed">
    <origin xyz="0.032766684597958076 -0.004081940988398508 -0.0032999999999999696" rpy="-1.5707963267948961 -5.551115123125783e-17 -3.075707298047779"/>
    <parent link="l_hand_thumb_3"/>
    <child link="l_hand_thumb_skin_10"/>
  </joint>
  <link name="l_hand_thumb_skin_11"/>
  <joint name="l_hand_thumb_skin_11_fixed_joint" type="fixed">
    <origin xyz="0.028280418005286963 -0.0031311476143919825 -0.0032999999999999696" rpy="-1.5707963267948961 -0 2.790891229256258"/>
    <parent link="l_hand_thumb_3"/>
    <child link="l_hand_thumb_skin_11"/>
  </joint>
  <link name="l_hand_thumb_skin_2"/>
  <joint name="l_hand_thumb_skin_2_fixed_joint" type="fixed">
    <origin xyz="0.030192049408458998 -0.0037582416535800467 0" rpy="-1.5707963267948961 -0 2.8764776596464054"/>
    <parent link="l_hand_thumb_3"/>
    <child link="l_hand_thumb_skin_2"/>
  </joint>
  <link name="l_hand_thumb_skin_3"/>
  <joint name="l_hand_thumb_skin_3_fixed_joint" type="fixed">
    <origin xyz="0.03276668459795809 -0.004081940988398536 0.003300000000000025" rpy="-1.5707963267948961 -7.216449660063518e-16 -2.1816615649914324"/>
    <parent link="l_hand_thumb_3"/>
    <child link="l_hand_thumb_skin_3"/>
  </joint>
  <link name="l_hand_thumb_skin_4"/>
  <joint name="l_hand_thumb_skin_4_fixed_joint" type="fixed">
    <origin xyz="0.03300000000000006 -0.0011923206886612636 0.005929525942276415" rpy="-3.1415926535897927 3.3306690738754696e-16 -3.1415926535883125"/>
    <parent link="l_hand_thumb_3"/>
    <child link="l_hand_thumb_skin_4"/>
  </joint>
  <link name="l_hand_thumb_skin_5"/>
  <joint name="l_hand_thumb_skin_5_fixed_joint" type="fixed">
    <origin xyz="0.034821366118633415 -0.0034840921633512156 8.326672684688674e-17" rpy="-1.5707963267948963 -2.220446049250313e-16 -2.6595476565932565"/>
    <parent link="l_hand_thumb_3"/>
    <child link="l_hand_thumb_skin_5"/>
  </joint>
  <link name="l_hand_thumb_skin_6"/>
  <joint name="l_hand_thumb_skin_6_fixed_joint" type="fixed">
    <origin xyz="0.036769634404151985 -0.0018288017188734795 0.003300000000000053" rpy="1.5707963267948968 -2.7755575615628914e-16 -2.399827721490722"/>
    <parent link="l_hand_thumb_3"/>
    <child link="l_hand_thumb_skin_6"/>
  </joint>
  <link name="l_hand_thumb_skin_7"/>
  <joint name="l_hand_thumb_skin_7_fixed_joint" type="fixed">
    <origin xyz="0.03825964091188104 -2.9018466437893964e-4 0" rpy="-1.570554204626614 -3.384708831138008e-4 -2.1917443860728234"/>
    <parent link="l_hand_thumb_3"/>
    <child link="l_hand_thumb_skin_7"/>
  </joint>
  <link name="l_hand_thumb_skin_8"/>
  <joint name="l_hand_thumb_skin_8_fixed_joint" type="fixed">
    <origin xyz="0.03676963440415201 -0.001828801718873424 -0.003299999999999942" rpy="-2.3592109405351698 0.6231239758157896 -2.6159603834403367"/>
    <parent link="l_hand_thumb_3"/>
    <child link="l_hand_thumb_skin_8"/>
  </joint>
  <link name="l_hand_thumb_skin_9"/>
  <joint name="l_hand_thumb_skin_9_fixed_joint" type="fixed">
    <origin xyz="0.03300000000000007 -0.0011923206886612636 -0.005929525942276359" rpy="-2.7645689049691455 0.25312544974719003 -3.042753660865159"/>
    <parent link="l_hand_thumb_3"/>
    <child link="l_hand_thumb_skin_9"/>
  </joint>
  <link name="mobile_base_lidar"/>
  <joint name="mobile_base_lidar_fixed_joint" type="fixed">
    <origin xyz="0.07 0 0.031" rpy="0 -0 0"/>
    <parent link="mobile_base_body_link"/>
    <child link="mobile_base_lidar"/>
  </joint>
  <link name="r_hand_index_skin_0"/>
  <joint name="r_hand_index_skin_0_fixed_joint" type="fixed">
    <origin xyz="3.469446951953614e-17 -0.002433928982192385 -0.03140545693228214" rpy="2.8463754567347765e-16 1.2225052508328904 -1.5707963267948963"/>
    <parent link="r_hand_index_3"/>
    <child link="r_hand_index_skin_0"/>
  </joint>
  <link name="r_hand_index_skin_1"/>
  <joint name="r_hand_index_skin_1_fixed_joint" type="fixed">
    <origin xyz="0.0032999999999999974 -0.0031311591905268388 -0.033280416916158295" rpy="2.4236659217065896e-16 1.2200945546251307 -1.5707963267948963"/>
    <parent link="r_hand_index_3"/>
    <child link="r_hand_index_skin_1"/>
  </joint>
  <link name="r_hand_index_skin_10"/>
  <joint name="r_hand_index_skin_10_fixed_joint" type="fixed">
    <origin xyz="-0.0032999999999999696 -0.0040819541250192715 -0.03776668317810877" rpy="3.1415926535897922 1.5049113190891115 1.5707963267948952"/>
    <parent link="r_hand_index_3"/>
    <child link="r_hand_index_skin_10"/>
  </joint>
  <link name="r_hand_index_skin_11"/>
  <joint name="r_hand_index_skin_11_fixed_joint" type="fixed">
    <origin xyz="-0.0033000000000000043 -0.0031311591905267833 -0.033280416916158295" rpy="2.4236659217065896e-16 1.2200945546251307 -1.5707963267948963"/>
    <parent link="r_hand_index_3"/>
    <child link="r_hand_index_skin_11"/>
  </joint>
  <link name="r_hand_index_skin_2"/>
  <joint name="r_hand_index_skin_2_fixed_joint" type="fixed">
    <origin xyz="6.938893903907228e-18 -0.003758253894649538 -0.03519204810120419" rpy="3.177869701880381e-16 1.3056809850152777 -1.5707963267948961"/>
    <parent link="r_hand_index_3"/>
    <child link="r_hand_index_skin_2"/>
  </joint>
  <link name="r_hand_index_skin_3"/>
  <joint name="r_hand_index_skin_3_fixed_joint" type="fixed">
    <origin xyz="0.0033000000000000043 -0.004081954125019299 -0.03776668317810877" rpy="3.1415926535897922 1.5049113190891115 1.5707963267948952"/>
    <parent link="r_hand_index_3"/>
    <child link="r_hand_index_skin_3"/>
  </joint>
  <link name="r_hand_index_skin_4"/>
  <joint name="r_hand_index_skin_4_fixed_joint" type="fixed">
    <origin xyz="0.005929525942276359 -0.0011923339064377758 -0.03799999958526529" rpy="-3.1415914410880514 1.299444346948154 2.777156710461142"/>
    <parent link="r_hand_index_3"/>
    <child link="r_hand_index_skin_4"/>
  </joint>
  <link name="r_hand_index_skin_5"/>
  <joint name="r_hand_index_skin_5_fixed_joint" type="fixed">
    <origin xyz="6.938893903907228e-18 -0.003484106014664784 -0.03982136490673749" rpy="3.141592653589793 1.0887516776345891 1.5707963267948963"/>
    <parent link="r_hand_index_3"/>
    <child link="r_hand_index_skin_5"/>
  </joint>
  <link name="r_hand_index_skin_6"/>
  <joint name="r_hand_index_skin_6_fixed_joint" type="fixed">
    <origin xyz="0.0033000000000000043 -0.0018288162478654058 -0.04176963376802595" rpy="-3.141592252887904 0.7788157884423246 2.5320680380490246"/>
    <parent link="r_hand_index_3"/>
    <child link="r_hand_index_skin_6"/>
  </joint>
  <link name="r_hand_index_skin_7"/>
  <joint name="r_hand_index_skin_7_fixed_joint" type="fixed">
    <origin xyz="-2.7755575615628914e-17 -2.901997116492028e-4 -0.04325964081094158" rpy="-3.1415926534118155 0.6209483661384732 1.5712124827356644"/>
    <parent link="r_hand_index_3"/>
    <child link="r_hand_index_skin_7"/>
  </joint>
  <link name="r_hand_index_skin_8"/>
  <joint name="r_hand_index_skin_8_fixed_joint" type="fixed">
    <origin xyz="-0.0032999999999999835 -0.0018288162478654058 -0.04176963376802595" rpy="3.141592252887904 0.7788157884423246 0.6095246155407682"/>
    <parent link="r_hand_index_3"/>
    <child link="r_hand_index_skin_8"/>
  </joint>
  <link name="r_hand_index_skin_9"/>
  <joint name="r_hand_index_skin_9_fixed_joint" type="fixed">
    <origin xyz="-0.005929525942276352 -0.0011923339064378036 -0.03799999958526534" rpy="3.1415914410880514 1.2994443469481536 0.36443594312865046"/>
    <parent link="r_hand_index_3"/>
    <child link="r_hand_index_skin_9"/>
  </joint>
  <link name="r_hand_middle_skin_0"/>
  <joint name="r_hand_middle_skin_0_fixed_joint" type="fixed">
    <origin xyz="-2.0816681711721685e-17 -0.002433918058236506 -0.03140545777888887" rpy="-2.4397527287236403e-16 1.2225055986691193 -1.570796326794897"/>
    <parent link="r_hand_middle_2"/>
    <child link="r_hand_middle_skin_0"/>
  </joint>
  <link name="r_hand_middle_skin_1"/>
  <joint name="r_hand_middle_skin_1_fixed_joint" type="fixed">
    <origin xyz="0.003299999999999987 -0.0031311476143918993 -0.033280418005286916" rpy="-2.4236682262019717e-16 1.2200949024613599 -1.5707963267948972"/>
    <parent link="r_hand_middle_2"/>
    <child link="r_hand_middle_skin_1"/>
  </joint>
  <link name="r_hand_middle_skin_10"/>
  <joint name="r_hand_middle_skin_10_fixed_joint" type="fixed">
    <origin xyz="-0.0033000000000000113 -0.004081940988398369 -0.03776668459795801" rpy="-3.141592653589792 1.5049109712528799 1.5707963267948983"/>
    <parent link="r_hand_middle_2"/>
    <child link="r_hand_middle_skin_10"/>
  </joint>
  <link name="r_hand_middle_skin_11"/>
  <joint name="r_hand_middle_skin_11_fixed_joint" type="fixed">
    <origin xyz="-0.003300000000000025 -0.0031311476143918715 -0.03328041800528686" rpy="-2.4236682262019727e-16 1.2200949024613594 -1.5707963267948972"/>
    <parent link="r_hand_middle_2"/>
    <child link="r_hand_middle_skin_11"/>
  </joint>
  <link name="r_hand_middle_skin_2"/>
  <joint name="r_hand_middle_skin_2_fixed_joint" type="fixed">
    <origin xyz="-4.5102810375396984e-17 -0.003758241653579991 -0.035192049408458936" rpy="-3.177873773164535e-16 1.3056813328515076 -1.5707963267948972"/>
    <parent link="r_hand_middle_2"/>
    <child link="r_hand_middle_skin_2"/>
  </joint>
  <link name="r_hand_middle_skin_3"/>
  <joint name="r_hand_middle_skin_3_fixed_joint" type="fixed">
    <origin xyz="0.003299999999999942 -0.004081940988398425 -0.03776668459795801" rpy="-3.141592653589792 1.5049109712528799 1.5707963267948986"/>
    <parent link="r_hand_middle_2"/>
    <child link="r_hand_middle_skin_3"/>
  </joint>
  <link name="r_hand_middle_skin_4"/>
  <joint name="r_hand_middle_skin_4_fixed_joint" type="fixed">
    <origin xyz="0.005929525942276321 -0.001192320688661208 -0.03799999999999998" rpy="-3.141592653589792 1.2994442229713614 2.7771555423255876"/>
    <parent link="r_hand_middle_2"/>
    <child link="r_hand_middle_skin_4"/>
  </joint>
  <link name="r_hand_middle_skin_5"/>
  <joint name="r_hand_middle_skin_5_fixed_joint" type="fixed">
    <origin xyz="-2.42861286636753e-17 -0.0034840921633511046 -0.03982136611863335" rpy="-3.141592653589793 1.08875132979836 1.5707963267948968"/>
    <parent link="r_hand_middle_2"/>
    <child link="r_hand_middle_skin_5"/>
  </joint>
  <link name="r_hand_middle_skin_6"/>
  <joint name="r_hand_middle_skin_6_fixed_joint" type="fixed">
    <origin xyz="0.0032999999999999766 -0.0018288017188733963 -0.041769634404151934" rpy="-3.1415926535897927 0.778815589313783 2.532067756581199"/>
    <parent link="r_hand_middle_2"/>
    <child link="r_hand_middle_skin_6"/>
  </joint>
  <link name="r_hand_middle_skin_7"/>
  <joint name="r_hand_middle_skin_7_fixed_joint" type="fixed">
    <origin xyz="-5.204170427930421e-17 -2.9018466437888413e-4 -0.04325964091188089" rpy="-3.141592653589793 0.6209480183022739 1.5712124826321157"/>
    <parent link="r_hand_middle_2"/>
    <child link="r_hand_middle_skin_7"/>
  </joint>
  <link name="r_hand_middle_skin_8"/>
  <joint name="r_hand_middle_skin_8_fixed_joint" type="fixed">
    <origin xyz="-0.0033000000000000217 -0.0018288017188733408 -0.04176963440415199" rpy="3.1415926535897927 0.778815589313783 0.6095248970085936"/>
    <parent link="r_hand_middle_2"/>
    <child link="r_hand_middle_skin_8"/>
  </joint>
  <link name="r_hand_middle_skin_9"/>
  <joint name="r_hand_middle_skin_9_fixed_joint" type="fixed">
    <origin xyz="-0.00592952594227638 -0.0011923206886611526 -0.03799999999999998" rpy="3.141592653589792 1.299444222971361 0.3644371112642049"/>
    <parent link="r_hand_middle_2"/>
    <child link="r_hand_middle_skin_9"/>
  </joint>
  <link name="r_hand_pinkie_skin_0"/>
  <joint name="r_hand_pinkie_skin_0_fixed_joint" type="fixed">
    <origin xyz="0 -0.0024339180582408637 -0.03140545777888881" rpy="2.6430654561173425e-16 1.2225055986691284 -1.5707963267948966"/>
    <parent link="r_hand_pinkie_2"/>
    <child link="r_hand_pinkie_skin_0"/>
  </joint>
  <link name="r_hand_pinkie_skin_1"/>
  <joint name="r_hand_pinkie_skin_1_fixed_joint" type="fixed">
    <origin xyz="0.0033000000000000113 -0.0031311476143962846 -0.03328041800528675" rpy="1.8177511696515236e-16 1.2200949024613699 -1.5707963267948966"/>
    <parent link="r_hand_pinkie_2"/>
    <child link="r_hand_pinkie_skin_1"/>
  </joint>
  <link name="r_hand_pinkie_skin_10"/>
  <joint name="r_hand_pinkie_skin_10_fixed_joint" type="fixed">
    <origin xyz="-0.0032999999999999974 -0.004081940988402782 -0.037766684597957845" rpy="3.1415926535897922 1.5049109712528714 1.5707963267948974"/>
    <parent link="r_hand_pinkie_2"/>
    <child link="r_hand_pinkie_skin_10"/>
  </joint>
  <link name="r_hand_pinkie_skin_11"/>
  <joint name="r_hand_pinkie_skin_11_fixed_joint" type="fixed">
    <origin xyz="-0.0032999999999999904 -0.0031311476143963124 -0.033280418005286805" rpy="1.8177511696515236e-16 1.2200949024613699 -1.5707963267948966"/>
    <parent link="r_hand_pinkie_2"/>
    <child link="r_hand_pinkie_skin_11"/>
  </joint>
  <link name="r_hand_pinkie_skin_2"/>
  <joint name="r_hand_pinkie_skin_2_fixed_joint" type="fixed">
    <origin xyz="0 -0.003758241653584321 -0.03519204940845877" rpy="3.17787377316464e-16 1.3056813328515169 -1.5707963267948966"/>
    <parent link="r_hand_pinkie_2"/>
    <child link="r_hand_pinkie_skin_2"/>
  </joint>
  <link name="r_hand_pinkie_skin_3"/>
  <joint name="r_hand_pinkie_skin_3_fixed_joint" type="fixed">
    <origin xyz="0.003300000000000018 -0.004081940988402699 -0.0377666845979579" rpy="3.1415926535897922 1.5049109712528714 1.5707963267948977"/>
    <parent link="r_hand_pinkie_2"/>
    <child link="r_hand_pinkie_skin_3"/>
  </joint>
  <link name="r_hand_pinkie_skin_4"/>
  <joint name="r_hand_pinkie_skin_4_fixed_joint" type="fixed">
    <origin xyz="0.005929525942276366 -0.0011923206886655102 -0.03799999999999981" rpy="3.1415926535897625 1.2994442229713585 2.777155542325558"/>
    <parent link="r_hand_pinkie_2"/>
    <child link="r_hand_pinkie_skin_4"/>
  </joint>
  <link name="r_hand_pinkie_skin_5"/>
  <joint name="r_hand_pinkie_skin_5_fixed_joint" type="fixed">
    <origin xyz="1.3877787807814457e-17 -0.00348409216335549 -0.03982136611863324" rpy="3.141592653589793 1.0887513297983513 1.5707963267948968"/>
    <parent link="r_hand_pinkie_2"/>
    <child link="r_hand_pinkie_skin_5"/>
  </joint>
  <link name="r_hand_pinkie_skin_6"/>
  <joint name="r_hand_pinkie_skin_6_fixed_joint" type="fixed">
    <origin xyz="0.0033000000000000043 -0.0018288017188776429 -0.04176963440415177" rpy="3.1415926535897833 0.778815589313778 2.532067756581192"/>
    <parent link="r_hand_pinkie_2"/>
    <child link="r_hand_pinkie_skin_6"/>
  </joint>
  <link name="r_hand_pinkie_skin_7"/>
  <joint name="r_hand_pinkie_skin_7_fixed_joint" type="fixed">
    <origin xyz="-6.938893903907228e-18 -2.901846643830752e-4 -0.04325964091188084" rpy="3.141592653589793 0.620948018302265 1.5712124826321159"/>
    <parent link="r_hand_pinkie_2"/>
    <child link="r_hand_pinkie_skin_7"/>
  </joint>
  <link name="r_hand_pinkie_skin_8"/>
  <joint name="r_hand_pinkie_skin_8_fixed_joint" type="fixed">
    <origin xyz="-0.0032999999999999904 -0.0018288017188776429 -0.04176963440415177" rpy="-3.1415926535897833 0.7788155893137778 0.6095248970086008"/>
    <parent link="r_hand_pinkie_2"/>
    <child link="r_hand_pinkie_skin_8"/>
  </joint>
  <link name="r_hand_pinkie_skin_9"/>
  <joint name="r_hand_pinkie_skin_9_fixed_joint" type="fixed">
    <origin xyz="-0.005929525942276352 -0.0011923206886654825 -0.03799999999999981" rpy="-3.141592653589763 1.299444222971359 0.3644371112642355"/>
    <parent link="r_hand_pinkie_2"/>
    <child link="r_hand_pinkie_skin_9"/>
  </joint>
  <link name="r_hand_ring_skin_0"/>
  <joint name="r_hand_ring_skin_0_fixed_joint" type="fixed">
    <origin xyz="3.469446951953614e-18 -0.0024339182743748355 -0.03140545776213821" rpy="1.4231890647798227e-16 1.222505591786931 -1.5707963267948966"/>
    <parent link="r_hand_ring_2"/>
    <child link="r_hand_ring_skin_0"/>
  </joint>
  <link name="r_hand_ring_skin_1"/>
  <joint name="r_hand_ring_skin_1_fixed_joint" type="fixed">
    <origin xyz="0.0032999999999999974 -0.0031311478434340456 -0.03328041798373782" rpy="1.4138064386867392e-16 1.2200948955791715 -1.5707963267948966"/>
    <parent link="r_hand_ring_2"/>
    <child link="r_hand_ring_skin_1"/>
  </joint>
  <link name="r_hand_ring_skin_10"/>
  <joint name="r_hand_ring_skin_10_fixed_joint" type="fixed">
    <origin xyz="-0.0033000000000000113 -0.004081941248315957 -0.03776668456986537" rpy="3.1415926535897927 1.5049109781350702 1.5707963267948977"/>
    <parent link="r_hand_ring_2"/>
    <child link="r_hand_ring_skin_10"/>
  </joint>
  <link name="r_hand_ring_skin_11"/>
  <joint name="r_hand_ring_skin_11_fixed_joint" type="fixed">
    <origin xyz="-0.0033000000000000026 -0.0031311478434340456 -0.033280417983737876" rpy="1.4138064386867392e-16 1.2200948955791715 -1.5707963267948966"/>
    <parent link="r_hand_ring_2"/>
    <child link="r_hand_ring_skin_11"/>
  </joint>
  <link name="r_hand_ring_skin_2"/>
  <joint name="r_hand_ring_skin_2_fixed_joint" type="fixed">
    <origin xyz="1.214306433183765e-17 -0.0037582418957782804 -0.035192049382594015" rpy="1.324114038587985e-16 1.305681325969319 -1.5707963267948966"/>
    <parent link="r_hand_ring_2"/>
    <child link="r_hand_ring_skin_2"/>
  </joint>
  <link name="r_hand_ring_skin_3"/>
  <joint name="r_hand_ring_skin_3_fixed_joint" type="fixed">
    <origin xyz="0.003299999999999987 -0.004081941248315901 -0.03776668456986537" rpy="3.1415926535897927 1.5049109781350702 1.5707963267948974"/>
    <parent link="r_hand_ring_2"/>
    <child link="r_hand_ring_skin_3"/>
  </joint>
  <link name="r_hand_ring_skin_4"/>
  <joint name="r_hand_ring_skin_4_fixed_joint" type="fixed">
    <origin xyz="0.005929525942276352 -0.0011923209501843446 -0.03799999999179421" rpy="-3.1415926295995895 1.2994442254243346 2.777155565437974"/>
    <parent link="r_hand_ring_2"/>
    <child link="r_hand_ring_skin_4"/>
  </joint>
  <link name="r_hand_ring_skin_5"/>
  <joint name="r_hand_ring_skin_5_fixed_joint" type="fixed">
    <origin xyz="-1.214306433183765e-17 -0.0034840924374092974 -0.03982136609465514" rpy="3.141592653589793 1.0887513366805477 1.570796326794897"/>
    <parent link="r_hand_ring_2"/>
    <child link="r_hand_ring_skin_5"/>
  </joint>
  <link name="r_hand_ring_skin_6"/>
  <joint name="r_hand_ring_skin_6_fixed_joint" type="fixed">
    <origin xyz="0.0032999999999999974 -0.0018288020063398913 -0.04176963439156578" rpy="-3.141592645661621 0.7788155932536848 2.53206776215024"/>
    <parent link="r_hand_ring_2"/>
    <child link="r_hand_ring_skin_6"/>
  </joint>
  <link name="r_hand_ring_skin_7"/>
  <joint name="r_hand_ring_skin_7_fixed_joint" type="fixed">
    <origin xyz="3.469446951953614e-18 -2.901849620998431e-4 -0.04325964090988388" rpy="-3.141592653586272 0.6209480251844615 1.5712124826341647"/>
    <parent link="r_hand_ring_2"/>
    <child link="r_hand_ring_skin_7"/>
  </joint>
  <link name="r_hand_ring_skin_8"/>
  <joint name="r_hand_ring_skin_8_fixed_joint" type="fixed">
    <origin xyz="-0.0032999999999999956 -0.0018288020063398913 -0.04176963439156589" rpy="3.141592645661621 0.7788155932536843 0.6095248914395535"/>
    <parent link="r_hand_ring_2"/>
    <child link="r_hand_ring_skin_8"/>
  </joint>
  <link name="r_hand_ring_skin_9"/>
  <joint name="r_hand_ring_skin_9_fixed_joint" type="fixed">
    <origin xyz="-0.0059295259422763695 -0.0011923209501843723 -0.03799999999179421" rpy="3.141592629599589 1.2994442254243332 0.36443708815181947"/>
    <parent link="r_hand_ring_2"/>
    <child link="r_hand_ring_skin_9"/>
  </joint>
  <link name="r_hand_thumb_skin_0"/>
  <joint name="r_hand_thumb_skin_0_fixed_joint" type="fixed">
    <origin xyz="0.02640545777888894 -0.002433918058236617 0" rpy="-1.5707963267948961 2.220446049250313e-16 2.793301925464017"/>
    <parent link="r_hand_thumb_3"/>
    <child link="r_hand_thumb_skin_0"/>
  </joint>
  <link name="r_hand_thumb_skin_1"/>
  <joint name="r_hand_thumb_skin_1_fixed_joint" type="fixed">
    <origin xyz="0.028280418005286932 -0.0031311476143919825 0.003300000000000025" rpy="-1.570796326794896 -7.216449660063518e-16 -2.1816615649914324"/>
    <parent link="r_hand_thumb_3"/>
    <child link="r_hand_thumb_skin_1"/>
  </joint>
  <link name="r_hand_thumb_skin_10"/>
  <joint name="r_hand_thumb_skin_10_fixed_joint" type="fixed">
    <origin xyz="0.03276668459795807 -0.00408194098839848 -0.003300000000000025" rpy="-1.5707963267948961 5.551115123125783e-17 -3.075707298047779"/>
    <parent link="r_hand_thumb_3"/>
    <child link="r_hand_thumb_skin_10"/>
  </joint>
  <link name="r_hand_thumb_skin_11"/>
  <joint name="r_hand_thumb_skin_11_fixed_joint" type="fixed">
    <origin xyz="0.028280418005286953 -0.0031311476143919825 -0.0032999999999999974" rpy="-1.5707963267948961 1.6653345369377348e-16 2.790891229256258"/>
    <parent link="r_hand_thumb_3"/>
    <child link="r_hand_thumb_skin_11"/>
  </joint>
  <link name="r_hand_thumb_skin_2"/>
  <joint name="r_hand_thumb_skin_2_fixed_joint" type="fixed">
    <origin xyz="0.030192049408458994 -0.003758241653580019 0" rpy="-1.5707963267948961 2.7755575615628914e-16 2.8764776596464054"/>
    <parent link="r_hand_thumb_3"/>
    <child link="r_hand_thumb_skin_2"/>
  </joint>
  <link name="r_hand_thumb_skin_3"/>
  <joint name="r_hand_thumb_skin_3_fixed_joint" type="fixed">
    <origin xyz="0.03276668459795803 -0.004081940988398508 0.0032999999999999974" rpy="-1.570796326794896 -8.326672684688674e-16 -2.1816615649914324"/>
    <parent link="r_hand_thumb_3"/>
    <child link="r_hand_thumb_skin_3"/>
  </joint>
  <link name="r_hand_thumb_skin_4"/>
  <joint name="r_hand_thumb_skin_4_fixed_joint" type="fixed">
    <origin xyz="0.03300000000000006 -0.0011923206886612636 0.005929525942276415" rpy="-3.1415926535897927 2.220446049250313e-16 -3.1415926535883125"/>
    <parent link="r_hand_thumb_3"/>
    <child link="r_hand_thumb_skin_4"/>
  </joint>
  <link name="r_hand_thumb_skin_5"/>
  <joint name="r_hand_thumb_skin_5_fixed_joint" type="fixed">
    <origin xyz="0.03482136611863341 -0.0034840921633512434 0" rpy="-1.5707963267948961 -1.6653345369377348e-16 -2.659547656593256"/>
    <parent link="r_hand_thumb_3"/>
    <child link="r_hand_thumb_skin_5"/>
  </joint>
  <link name="r_hand_thumb_skin_6"/>
  <joint name="r_hand_thumb_skin_6_fixed_joint" type="fixed">
    <origin xyz="0.036769634404151964 -0.0018288017188734518 0.0032999999999999974" rpy="1.570796326794897 -2.220446049250313e-16 -2.399827721490722"/>
    <parent link="r_hand_thumb_3"/>
    <child link="r_hand_thumb_skin_6"/>
  </joint>
  <link name="r_hand_thumb_skin_7"/>
  <joint name="r_hand_thumb_skin_7_fixed_joint" type="fixed">
    <origin xyz="0.03825964091188099 -2.901846643789119e-4 0" rpy="-1.5705542046266139 -3.3847088311368976e-4 -2.191744386072823"/>
    <parent link="r_hand_thumb_3"/>
    <child link="r_hand_thumb_skin_7"/>
  </joint>
  <link name="r_hand_thumb_skin_8"/>
  <joint name="r_hand_thumb_skin_8_fixed_joint" type="fixed">
    <origin xyz="0.036769634404152 -0.0018288017188734518 -0.003300000000000025" rpy="-2.3592109405351698 0.6231239758157898 -2.6159603834403367"/>
    <parent link="r_hand_thumb_3"/>
    <child link="r_hand_thumb_skin_8"/>
  </joint>
  <link name="r_hand_thumb_skin_9"/>
  <joint name="r_hand_thumb_skin_9_fixed_joint" type="fixed">
    <origin xyz="0.03300000000000001 -0.0011923206886612636 -0.005929525942276359" rpy="-2.7645689049691455 0.25312544974719 -3.042753660865159"/>
    <parent link="r_hand_thumb_3"/>
    <child link="r_hand_thumb_skin_9"/>
  </joint>
  <link name="torso_tripod_root"/>
  <joint name="torso_tripod_root_fixed_joint" type="fixed">
    <origin xyz="0 0 0" rpy="0 -0 0"/>
    <parent link="torso_platform_link"/>
    <child link="torso_tripod_root"/>
  </joint>
  <gazebo>
    <plugin name="controlboard_torso" filename="libgazebo_yarp_controlboard.so">  <yarpConfigurationFile>model://R1Mk3/conf/gazebo_cer_torso.ini</yarpConfigurationFile></plugin>
  </gazebo>
  <gazebo>
    <plugin name="gzyarp::ControlBoard" filename="gz-sim-yarp-controlboard-system">  <yarpConfigurationFile>model://R1Mk3/conf/gz_sim_cer_torso.ini</yarpConfigurationFile></plugin>
  </gazebo>
  <gazebo>
    <plugin name="controlboard_head" filename="libgazebo_yarp_controlboard.so">  <yarpConfigurationFile>model://R1Mk3/conf/gazebo_cer_head.ini</yarpConfigurationFile></plugin>
  </gazebo>
  <gazebo>
    <plugin name="gzyarp::ControlBoard" filename="gz-sim-yarp-controlboard-system">  <yarpConfigurationFile>model://R1Mk3/conf/gz_sim_cer_head.ini</yarpConfigurationFile></plugin>
  </gazebo>
  <gazebo>
    <plugin name="controlboard_left_arm_no_hand" filename="libgazebo_yarp_controlboard.so">
      <yarpConfigurationFile>model://R1Mk3/conf/gazebo_cer_left_arm.ini</yarpConfigurationFile>
      <initialConfiguration>-0.52 0.52 0 0.785 0 0 0.0</initialConfiguration>
    </plugin>
  </gazebo>
  <gazebo>
    <plugin name="gzyarp::ControlBoard" filename="gz-sim-yarp-controlboard-system">  <yarpConfigurationFile>model://R1Mk3/conf/gz_sim_cer_left_arm.ini</yarpConfigurationFile>  <initialConfiguration>-0.52 0.52 0 0.785 0 0 0.0</initialConfiguration></plugin>
  </gazebo>
  <gazebo>
    <plugin name="controlboard_left_hand" filename="libgazebo_yarp_controlboard.so">
      <yarpConfigurationFile>model://R1Mk3/conf/gazebo_cer_left_hand_mk5_1.ini</yarpConfigurationFile>
    </plugin>
  </gazebo>
  <gazebo>
    <plugin name="gzyarp::ControlBoard" filename="gz-sim-yarp-controlboard-system">  <yarpConfigurationFile>model://R1Mk3/conf/gz_sim_cer_left_hand_mk5_1.ini</yarpConfigurationFile></plugin>
  </gazebo>
  <gazebo reference="l_shoulder_pitch">  <implicitSpringDamper>1</implicitSpringDamper></gazebo>
  <gazebo reference="l_shoulder_roll">  <implicitSpringDamper>1</implicitSpringDamper></gazebo>
  <gazebo reference="l_shoulder_yaw">  <implicitSpringDamper>1</implicitSpringDamper></gazebo>
  <gazebo reference="l_elbow">  <implicitSpringDamper>1</implicitSpringDamper></gazebo>
  <gazebo reference="l_wrist_roll">  <implicitSpringDamper>1</implicitSpringDamper></gazebo>
  <gazebo reference="l_wrist_pitch">  <implicitSpringDamper>1</implicitSpringDamper></gazebo>
  <gazebo reference="l_wrist_yaw">  <implicitSpringDamper>1</implicitSpringDamper></gazebo>
  <gazebo>
    <plugin name="controlboard_right_arm" filename="libgazebo_yarp_controlboard.so">
      <yarpConfigurationFile>model://R1Mk3/conf/gazebo_cer_right_arm.ini</yarpConfigurationFile>
      <initialConfiguration>-0.52 0.52 0 0.785 0 0 0.0</initialConfiguration>
    </plugin>
  </gazebo>
  <gazebo>
    <plugin name="gzyarp::ControlBoard" filename="gz-sim-yarp-controlboard-system">  <yarpConfigurationFile>model://R1Mk3/conf/gz_sim_cer_right_arm.ini</yarpConfigurationFile>  <initialConfiguration>-0.52 0.52 0 0.785 0 0 0.0</initialConfiguration></plugin>
  </gazebo>
  <gazebo>
    <plugin name="controlboard_right_hand" filename="libgazebo_yarp_controlboard.so">
      <yarpConfigurationFile>model://R1Mk3/conf/gazebo_cer_right_hand_mk5_1.ini</yarpConfigurationFile>
    </plugin>
  </gazebo>
  <gazebo>
    <plugin name="gzyarp::ControlBoard" filename="gz-sim-yarp-controlboard-system">  <yarpConfigurationFile>model://R1Mk3/conf/gz_sim_cer_right_hand_mk5_1.ini</yarpConfigurationFile></plugin>
  </gazebo>
  <gazebo reference="r_shoulder_pitch">  <implicitSpringDamper>1</implicitSpringDamper></gazebo>
  <gazebo reference="r_shoulder_roll">  <implicitSpringDamper>1</implicitSpringDamper></gazebo>
  <gazebo reference="r_shoulder_yaw">  <implicitSpringDamper>1</implicitSpringDamper></gazebo>
  <gazebo reference="r_elbow">  <implicitSpringDamper>1</implicitSpringDamper></gazebo>
  <gazebo reference="r_wrist_roll">  <implicitSpringDamper>1</implicitSpringDamper></gazebo>
  <gazebo reference="r_wrist_pitch">  <implicitSpringDamper>1</implicitSpringDamper></gazebo>
  <gazebo reference="r_wrist_yaw">  <implicitSpringDamper>1</implicitSpringDamper></gazebo>
  <gazebo>  <plugin name="controlboard_mobile_base" filename="libgazebo_yarp_controlboard.so">    <yarpConfigurationFile>model://R1Mk3/conf/gazebo_cer_mobile_base.ini</yarpConfigurationFile>  </plugin></gazebo>
  <gazebo>  <plugin name="gzyarp::ControlBoard" filename="gz-sim-yarp-controlboard-system">    <yarpConfigurationFile>model://R1Mk3/conf/gz_sim_cer_mobile_base.ini</yarpConfigurationFile>  </plugin></gazebo>
  <gazebo>  <plugin name="robotinterface" filename="libgazebo_yarp_robotinterface.so">    <yarpRobotInterfaceConfigurationFile>model://R1Mk3/conf/r1mk3.xml</yarpRobotInterfaceConfigurationFile>  </plugin></gazebo>
  <gazebo>  <plugin name="gzyarp::RobotInterface" filename="gz-sim-yarp-robotinterface-system">    <yarpRobotInterfaceConfigurationFile>model://R1Mk3/conf/r1mk3_gz_sim.xml</yarpRobotInterfaceConfigurationFile>  </plugin></gazebo>
  <gazebo reference="mobile_base_body_link">    <collision>      <surface>        <contact>          <ode/>        </contact>        <friction>          <ode>            <mu>0.0</mu>            <mu2>0.0</mu2>          </ode>        </friction>      </surface>    </collision></gazebo>
  <gazebo>  <pose>0 0 0.16 0 0 0</pose></gazebo>
  <gazebo reference="mobile_base_l_wheel_joint">  <implicitSpringDamper>1</implicitSpringDamper></gazebo>
  <gazebo reference="mobile_base_r_wheel_joint">  <implicitSpringDamper>1</implicitSpringDamper></gazebo>
  <gazebo reference="torso_heave_eq_joint">  <implicitSpringDamper>1</implicitSpringDamper></gazebo>
  <gazebo reference="torso_roll_eq_joint">  <implicitSpringDamper>1</implicitSpringDamper></gazebo>
  <gazebo reference="torso_pitch_eq_joint">  <implicitSpringDamper>1</implicitSpringDamper></gazebo>
  <gazebo reference="torso_yaw_joint">  <implicitSpringDamper>1</implicitSpringDamper></gazebo>
  <gazebo reference="neck_pitch_joint">  <implicitSpringDamper>1</implicitSpringDamper></gazebo>
  <gazebo reference="neck_yaw_joint">  <implicitSpringDamper>1</implicitSpringDamper></gazebo>
  <gazebo reference="l_shoulder_pitch_joint">  <implicitSpringDamper>1</implicitSpringDamper></gazebo>
  <gazebo reference="l_shoulder_roll_joint">  <implicitSpringDamper>1</implicitSpringDamper></gazebo>
  <gazebo reference="l_shoulder_yaw_joint">  <implicitSpringDamper>1</implicitSpringDamper></gazebo>
  <gazebo reference="l_elbow_joint">  <implicitSpringDamper>1</implicitSpringDamper></gazebo>
  <gazebo reference="l_wrist_pronosupination_joint">  <implicitSpringDamper>1</implicitSpringDamper></gazebo>
  <gazebo reference="l_wrist_heave_eq_joint">  <implicitSpringDamper>1</implicitSpringDamper></gazebo>
  <gazebo reference="l_wrist_roll_eq_joint">  <implicitSpringDamper>1</implicitSpringDamper></gazebo>
  <gazebo reference="l_wrist_pitch_eq_joint">  <implicitSpringDamper>1</implicitSpringDamper></gazebo>
  <gazebo reference="l_hand_paddle_proximal_joint">  <implicitSpringDamper>1</implicitSpringDamper></gazebo>
  <gazebo reference="l_hand_paddle_distal_joint">  <implicitSpringDamper>1</implicitSpringDamper></gazebo>
  <gazebo reference="l_hand_thumb_proximal_joint">  <implicitSpringDamper>1</implicitSpringDamper></gazebo>
  <gazebo reference="l_hand_thumb_distal_joint">  <implicitSpringDamper>1</implicitSpringDamper></gazebo>
  <gazebo reference="r_shoulder_pitch_joint">  <implicitSpringDamper>1</implicitSpringDamper></gazebo>
  <gazebo reference="r_shoulder_roll_joint">  <implicitSpringDamper>1</implicitSpringDamper></gazebo>
  <gazebo reference="r_shoulder_yaw_joint">  <implicitSpringDamper>1</implicitSpringDamper></gazebo>
  <gazebo reference="r_elbow_joint">  <implicitSpringDamper>1</implicitSpringDamper></gazebo>
  <gazebo reference="r_wrist_pronosupination_joint">  <implicitSpringDamper>1</implicitSpringDamper></gazebo>
  <gazebo reference="r_wrist_heave_eq_joint">  <implicitSpringDamper>1</implicitSpringDamper></gazebo>
  <gazebo reference="r_wrist_roll_eq_joint">  <implicitSpringDamper>1</implicitSpringDamper></gazebo>
  <gazebo reference="r_wrist_pitch_eq_joint">  <implicitSpringDamper>1</implicitSpringDamper></gazebo>
  <gazebo reference="r_hand_paddle_proximal_joint">  <implicitSpringDamper>1</implicitSpringDamper></gazebo>
  <gazebo reference="r_hand_paddle_distal_joint">  <implicitSpringDamper>1</implicitSpringDamper></gazebo>
  <gazebo reference="r_hand_thumb_proximal_joint">  <implicitSpringDamper>1</implicitSpringDamper></gazebo>
  <gazebo reference="r_hand_thumb_distal_joint">  <implicitSpringDamper>1</implicitSpringDamper></gazebo>
  <gazebo>
    <pose>0.000000 0.000000 0.900000 0.000000 0.000000 0.000000</pose>
  </gazebo>
</robot>
